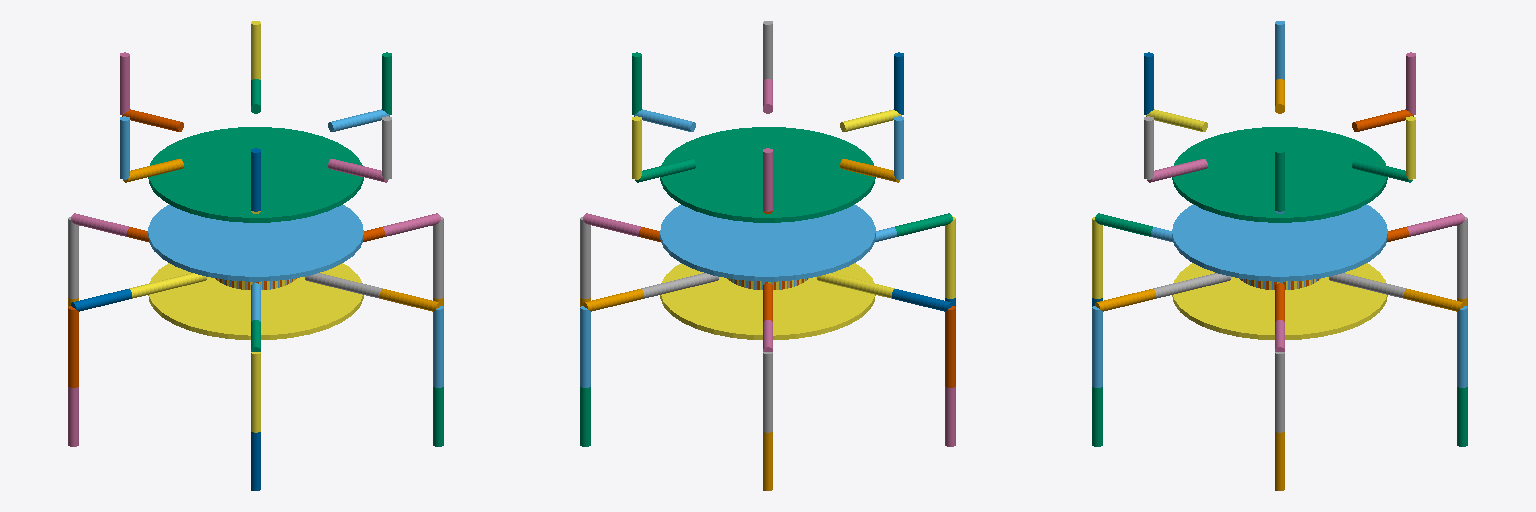
--- Render facts (derived) ---
Views: 3 orthographic renders of the robot side by side, from view 1: azimuth 30°, elevation 25°; view 2: azimuth 150°, elevation 25°; view 3: azimuth 270°, elevation 25°.
Robot: shell_robot — 59 links, 58 joints (37 revolute, 21 fixed); root link map; default pose: every joint at zero.
Visible links, largest first — view 1: upper_chassis, base_link, bottom_chassis, leg_B_3_4, leg_B_5_4, leg_B_2_4, leg_B_6_4, leg_B_4_4, leg_B_3_2, leg_B_5_2, leg_B_3_5, leg_B_5_5 (+15 smaller); view 2: upper_chassis, base_link, bottom_chassis, leg_B_1_4, leg_B_3_4, leg_B_4_4, leg_B_6_4, leg_B_2_4, leg_B_3_2, leg_B_1_2, leg_B_1_5, leg_B_3_5 (+15 smaller); view 3: upper_chassis, base_link, bottom_chassis, leg_B_1_4, leg_B_5_4, leg_B_2_4, leg_B_4_4, leg_B_6_4, leg_B_1_2, leg_B_5_2, leg_B_1_5, leg_B_5_5 (+15 smaller).
Boxes of the visible links, bbox=[...] form: upper_chassis: bbox=[148, 127, 363, 222]; base_link: bbox=[148, 204, 363, 281]; bottom_chassis: bbox=[148, 263, 363, 339]; leg_B_3_4: bbox=[68, 306, 78, 387]; leg_B_5_4: bbox=[433, 306, 443, 387]; leg_B_2_4: bbox=[68, 216, 78, 298]; leg_B_6_4: bbox=[433, 216, 443, 298]; leg_B_4_4: bbox=[251, 352, 260, 432]; leg_B_3_2: bbox=[129, 273, 206, 298]; leg_B_5_2: bbox=[305, 273, 382, 298]; leg_B_3_5: bbox=[68, 387, 78, 446]; leg_B_5_5: bbox=[433, 387, 443, 446]; upper_chassis: bbox=[660, 127, 875, 222]; base_link: bbox=[660, 204, 875, 281]; bottom_chassis: bbox=[660, 263, 875, 339]; leg_B_1_4: bbox=[580, 306, 590, 387]; leg_B_3_4: bbox=[945, 306, 955, 387]; leg_B_4_4: bbox=[945, 216, 955, 298]; leg_B_6_4: bbox=[580, 216, 590, 298]; leg_B_2_4: bbox=[763, 352, 772, 432]; leg_B_3_2: bbox=[817, 273, 894, 298]; leg_B_1_2: bbox=[641, 273, 718, 298]; leg_B_1_5: bbox=[580, 387, 590, 446]; leg_B_3_5: bbox=[945, 387, 955, 446]; upper_chassis: bbox=[1172, 127, 1387, 222]; base_link: bbox=[1172, 204, 1387, 281]; bottom_chassis: bbox=[1172, 263, 1387, 339]; leg_B_1_4: bbox=[1457, 306, 1467, 387]; leg_B_5_4: bbox=[1092, 306, 1102, 387]; leg_B_2_4: bbox=[1457, 216, 1467, 298]; leg_B_4_4: bbox=[1092, 216, 1102, 298]; leg_B_6_4: bbox=[1275, 352, 1284, 432]; leg_B_1_2: bbox=[1329, 273, 1406, 298]; leg_B_5_2: bbox=[1153, 273, 1230, 298]; leg_B_1_5: bbox=[1457, 387, 1467, 446]; leg_B_5_5: bbox=[1092, 387, 1102, 446].
Size in the robot's own frame: 0.4 by 0.3477 by 0.32 metres.
Geometry: primitives only (box / cylinder / sphere), no mesh files.

URDF robot description (shell_robot):
<?xml version="1.0" encoding="utf-8"?>
<!-- =================================================================================== -->
<!-- |    This document was autogenerated by xacro from shell_robot.urdf.xacro         | -->
<!-- |    EDITING THIS FILE BY HAND IS NOT RECOMMENDED                                 | -->
<!-- =================================================================================== -->
<robot name="shell_robot">
  <!-- **************************************************************************************************************************************** -->
  <!-- ******* ADAPTIVE CONSTANTS ******* -->
  <!-- **************************************************************************************************************************************** -->
  <!-- **************************************************************************************************************************************** -->
  <!-- ******* phisics proprieties ******* -->
  <!--inertia-->
  <!-- **************************************************************************************************************************************** -->
  <!-- ******* DH proprieties ******* -->
  <!-- **************************************************************************************************************************************** -->
  <leg prefix="prefix leg_B"/>
  <!-- **************************************************************************************************************************************** -->
  <!-- ******* ADAPTIVE CONSTANTS ******* -->
  <!-- **************************************************************************************************************************************** -->
  <!-- **************************************************************************************************************************************** -->
  <!-- ******* phisics proprieties ******* -->
  <!--inertia-->
  <leg prefix="prefix leg_U"/>
  <!-- **************************************************************************************************************************************** -->
  <!-- ******* ADAPTIVE CONSTANTS ******* -->
  <!-- **************************************************************************************************************************************** -->
  <!-- **************************************************************************************************************************************** -->
  <!-- ******* phisics proprieties ******* -->
  <!--inertia-->
  <!-- **************************************************************************************************************************************** -->
  <!-- ******* BASE LINK AND JOINTS ******* -->
  <!-- **************************************************************************************************************************************** -->
  <!--***fixed joints***-->
  <!--world joint
    <joint name="world_joint" type="fixed">
    <parent link="world"/>
    <child link="base_link"/>
    <origin rpy="0.0 0.0 0.0" xyz="0.0 0.0 0.0"/>
  </joint>  -->
  <!--from map to robot-->
  <joint name="to_robot" type="fixed">
    <parent link="map"/>
    <child link="base_link"/>
    <origin rpy="0 0 0" xyz="0 0 0.14"/>
    <dynamics damping="7.0" friction="1000"/>
  </joint>
  <!--base to bottom joint-->
  <joint name="bottom_joint" type="fixed">
    <parent link="base_link"/>
    <child link="bottom_chassis"/>
    <origin rpy="0 0 0" xyz="0 0 -0.06"/>
    <dynamics damping="7.0" friction="1000"/>
    <!--limit effort="0" velocity="0.0" upper="0.0001" lower ="-0.0001" /-->
  </joint>
  <!--base to upper joint-->
  <joint name="upper_joint" type="fixed">
    <parent link="base_link"/>
    <child link="upper_chassis"/>
    <origin rpy="0 0 0" xyz="0 0 0.06"/>
    <dynamics damping="7.0" friction="1000"/>
    <!--limit effort="0" velocity="0.0" upper="0.0001" lower ="-0.0001" /-->
  </joint>
  <!--MAP LINK-->
  <link name="map">
    <selfCollide>1</selfCollide>
    <surface>
      <contact>
        <poissons_ratio>0.347</poissons_ratio>
        <elastic_modulus>8.8e+09</elastic_modulus>
        <ode>
          <soft_cfm>0.01</soft_cfm>
          <soft_erp>0.3</soft_erp>
          <kp>1000</kp>
          <kp>1000</kp>
          <kd>10</kd>
          <max_vel>10.0</max_vel>
          <min_depth>0.1</min_depth>
        </ode>
      </contact>
    </surface>
  </link>
  <!--BASE LINKS-->
  <link name="base_link">
    <pose>0 0 0 0 0 0</pose>
    <selfCollide>1</selfCollide>
    <inertial>
      <mass value="0.8"/>
      <origin rpy="0 0 0" xyz="0 0 0"/>
      <inertia ixx="0.0200016666667" ixy="0.01" ixz="0.01" iyy="0.0200016666667" iyz="0.01" izz="0.0200016666667"/>
    </inertial>
    <collision name="base_link">
      <geometry>
        <cylinder length="0.005" radius="0.1"/>
      </geometry>
      <surface>
        <contact>
          <poissons_ratio>0.347</poissons_ratio>
          <elastic_modulus>8.8e+09</elastic_modulus>
          <ode>
            <soft_cfm>0.0001</soft_cfm>
            <soft_erp>0.3</soft_erp>
            <kp>1000</kp>
            <kp>1000</kp>
            <kd>10</kd>
            <max_vel>10.0</max_vel>
            <min_depth>0.1</min_depth>
          </ode>
        </contact>
      </surface>
    </collision>
    <visual>
      <origin rpy="0 0 0" xyz="0 0 0"/>
      <geometry>
        <cylinder length="0.005" radius="0.1"/>
      </geometry>
    </visual>
  </link>
  <!--chassis robot upper link-->
  <link name="upper_chassis">
    <pose>0 0 0 0 0 0</pose>
    <selfCollide>1</selfCollide>
    <inertial>
      <mass value="0.8"/>
      <origin rpy="0 0 0" xyz="0 0 0"/>
      <inertia ixx="0.0200016666667" ixy="0.01" ixz="0.01" iyy="0.0200016666667" iyz="0.01" izz="0.0200016666667"/>
    </inertial>
    <collision name="upper_chassis">
      <geometry>
        <cylinder length="0.005" radius="0.1"/>
      </geometry>
      <surface>
        <contact>
          <poissons_ratio>0.347</poissons_ratio>
          <elastic_modulus>8.8e+09</elastic_modulus>
          <ode>
            <soft_cfm>0.001</soft_cfm>
            <soft_erp>0.3</soft_erp>
            <kp>1000</kp>
            <kp>1000</kp>
            <kd>10</kd>
            <max_vel>10.0</max_vel>
            <min_depth>0.1</min_depth>
          </ode>
        </contact>
      </surface>
    </collision>
    <visual>
      <origin rpy="0 0 0" xyz="0 0 0"/>
      <geometry>
        <cylinder length="0.005" radius="0.1"/>
      </geometry>
    </visual>
  </link>
  <!--chassis robot bottom link-->
  <link name="bottom_chassis">
    <pose>0 0 0 0 0 0</pose>
    <selfCollide>1</selfCollide>
    <inertial>
      <mass value="0.8"/>
      <origin rpy="0 0 0" xyz="0 0 0"/>
      <inertia ixx="0.0200016666667" ixy="0.01" ixz="0.01" iyy="0.0200016666667" iyz="0.01" izz="0.0200016666667"/>
    </inertial>
    <collision name="bottom_chassis">
      <geometry>
        <cylinder length="0.005" radius="0.1"/>
      </geometry>
      <surface>
        <contact>
          <poissons_ratio>0.347</poissons_ratio>
          <elastic_modulus>8.8e+09</elastic_modulus>
          <ode>
            <soft_cfm>0.001</soft_cfm>
            <soft_erp>0.3</soft_erp>
            <kp>1000</kp>
            <kp>1000</kp>
            <kd>10</kd>
            <max_vel>10.0</max_vel>
            <min_depth>0.1</min_depth>
          </ode>
        </contact>
      </surface>
    </collision>
    <visual>
      <origin rpy="0 0 0" xyz="0 0 0"/>
      <geometry>
        <cylinder length="0.005" radius="0.1"/>
      </geometry>
    </visual>
  </link>
  <!--mimik base-->
  <joint name="q_c" type="revolute">
    <parent link="base_link"/>
    <child link="support_c"/>
    <origin rpy="0.0 0.0 0.0" xyz="0.0 0.0 0.0"/>
    <limit effort="1.4709975" lower="0" upper="3.14159" velocity="6.178465545"/>
    <dynamics damping="2.0" friction="0.0"/>
    <axis xyz="0 0 1"/>
  </joint>
  <link name="support_c">
    <pose>0 0 0 0 0 0</pose>
    <selfCollide>1</selfCollide>
    <inertial>
      <mass value="0.001"/>
      <origin rpy="0 0 0" xyz="0 0 0"/>
      <inertia ixx="0.001" ixy="0.001" ixz="0.001" iyy="0.001" iyz="0.001" izz="0.001"/>
    </inertial>
    <collision name="support_c">
      <geometry>
        <cylinder length="0.001" radius="0.001"/>
      </geometry>
      <surface>
        <contact>
          <poissons_ratio>0.347</poissons_ratio>
          <elastic_modulus>8.8e+09</elastic_modulus>
          <ode>
            <soft_cfm>0.001</soft_cfm>
            <soft_erp>0.3</soft_erp>
            <kp>1000</kp>
            <kp>1000</kp>
            <kd>10</kd>
            <max_vel>10.0</max_vel>
            <min_depth>0.1</min_depth>
          </ode>
        </contact>
      </surface>
    </collision>
  </link>
  <transmission name="tran_1_q_c">
    <type>transmission_interface/SimpleTransmission</type>
    <joint name="q_c">
      <hardwareInterface>hardware_interface/PositionJointInterface</hardwareInterface>
    </joint>
    <actuator name="motor_q_c">
      <hardwareInterface>hardware_interface/PositionJointInterface</hardwareInterface>
      <mechanicalReduction>1</mechanicalReduction>
    </actuator>
  </transmission>
  <gazebo reference="support_c">
    <selfCollide>1</selfCollide>
    <implicitSpringDamper>True</implicitSpringDamper>
  </gazebo>
  <gazebo reference="bottom_chassis">
    <selfCollide>1</selfCollide>
    <implicitSpringDamper>True</implicitSpringDamper>
  </gazebo>
  <gazebo reference="map">
    <selfCollide>1</selfCollide>
    <implicitSpringDamper>True</implicitSpringDamper>
  </gazebo>
  <gazebo reference="upper_chassis">
    <implicitSpringDamper>True</implicitSpringDamper>
    <selfCollide>1</selfCollide>
    <implicitSpringDamper>True</implicitSpringDamper>
  </gazebo>
  <gazebo reference="base_link">
    <implicitSpringDamper>True</implicitSpringDamper>
    <selfCollide>1</selfCollide>
  </gazebo>
  <!-- **************************************************************************************************************************************** -->
  <!-- ******* ADAPTIVE CONSTANTS ******* -->
  <!-- **************************************************************************************************************************************** -->
  <!-- **************************************************************************************************************************************** -->
  <!-- ******* phisics proprieties ******* -->
  <!--inertia-->
  <!-- **************************************************************************************************************************************** -->
  <!-- ******* KINEMATIC PROPRIETIS (JOINTS) ******* -->
  <!-- **************************************************************************************************************************************** -->
  <!--base to folding fan bottom joint-->
  <joint name="folding_fan_joint_1" type="fixed">
    <parent link="base_link"/>
    <child link="folding_fan_link_1"/>
    <origin rpy="0 0 1.04719" xyz="0 0 -0.03"/>
    <!--limit effort="0" velocity="0.0" upper="0.0001" lower ="-0.0001" /-->
    <dynamics damping="20.0" friction="1000"/>
    <axis xyz="0 0 1"/>
  </joint>
  <!--q_1_1_0 FIXED-->
  <joint name="q_1_1_0_FIXED" type="fixed">
    <parent link="folding_fan_link_1"/>
    <child link="leg_B_1_1"/>
    <origin rpy="0 0 0" xyz="0.055 0 0"/>
    <dynamics damping="20.0" friction="1000"/>
    <!--limit effort="0" velocity="0.0" upper="0.0001" lower ="-0.0001" /-->
    <axis xyz="0 0 1"/>
  </joint>
  <!--q_1_i_1-->
  <joint name="q_1_1_1" type="revolute">
    <parent link="leg_B_1_1"/>
    <child link="leg_B_1_2"/>
    <origin rpy="0 0 0" xyz="0 0 0"/>
    <limit effort="1.4709975" lower="0" upper="3.14159" velocity="6.178465545"/>
    <dynamics damping="7.0" friction="0.1"/>
    <!--mimic joint="q_c" multiplier="1" offset="0" /-->
    <axis xyz="0 0 1"/>
  </joint>
  <!--q_1_i_2-->
  <joint name="q_1_1_2" type="revolute">
    <parent link="leg_B_1_2"/>
    <child link="leg_B_1_3"/>
    <origin rpy="0 0 0" xyz="0.08 0 0"/>
    <limit effort="1.4709975" lower="-1.570795" upper="1.570795" velocity="6.178465545"/>
    <dynamics damping="0.7" friction="1000"/>
    <axis xyz="0 0 1"/>
  </joint>
  <!--q_1_i_3-->
  <joint name="q_1_1_3" type="revolute">
    <parent link="leg_B_1_3"/>
    <child link="leg_B_1_4"/>
    <origin rpy="0 1.570795 0" xyz="0.06 0 0"/>
    <limit effort="1.765197" lower="-1.570795" upper="1.570795" velocity="6.178465545"/>
    <dynamics damping="7.0" friction="0.10"/>
    <axis xyz="0 1 0"/>
  </joint>
  <!--q_1_i_4-->
  <joint name="q_1_1_4" type="revolute">
    <parent link="leg_B_1_4"/>
    <child link="leg_B_1_5"/>
    <origin rpy="-1.570795 0 0" xyz="0.08 0 0"/>
    <limit effort="1.765197" lower="-1.570795" upper="1.570795" velocity="6.178465545"/>
    <dynamics damping="7.0" friction="0.1"/>
    <axis xyz="0 0 1"/>
  </joint>
  <!-- **************************************************************************************************************************************** -->
  <!-- ******* INERTIAL PROPRIETIS (LINKS) ******* -->
  <!-- **************************************************************************************************************************************** -->
  <!--folding fan robot bottom link-->
  <link name="folding_fan_link_1">
    <pose>0 0 0 0 0 0</pose>
    <selfCollide>1</selfCollide>
    <inertial>
      <mass value="0.8"/>
      <origin rpy="0 0 0" xyz="0 0 0"/>
      <inertia ixx="0.000344066666667" ixy="0.01" ixz="0.01" iyy="0.000344066666667" iyz="0.01" izz="0.00802406666667"/>
    </inertial>
    <visual>
      <origin rpy="0 0 0" xyz="0 0 0"/>
      <geometry>
        <cylinder length="0.019" radius="0.04"/>
      </geometry>
    </visual>
  </link>
  <!--folding fan robot bottom link-->
  <link name="leg_B_1_1">
    <pose>0 0 0 0 0 0</pose>
    <selfCollide>1</selfCollide>
    <inertial>
      <mass value="0.8"/>
      <origin rpy="0 0 0" xyz="0 0 0"/>
      <inertia ixx="6.90666666667e-05" ixy="0.01" ixz="0.01" iyy="6.90666666667e-05" iyz="0.01" izz="0.00302406666667"/>
    </inertial>
    <collision name="leg_B_1_1">
      <origin rpy="0 0 0" xyz="0 0 0"/>
      <geometry>
        <cylinder length="0.0038" radius="0.003"/>
      </geometry>
      <surface>
        <contact>
          <poissons_ratio>0.347</poissons_ratio>
          <elastic_modulus>8.8e+09</elastic_modulus>
          <ode>
            <soft_cfm>0.01</soft_cfm>
            <soft_erp>0.3</soft_erp>
            <kp>1000</kp>
            <kd>10</kd>
            <max_vel>100.0</max_vel>
            <min_depth>0.001</min_depth>
          </ode>
        </contact>
      </surface>
    </collision>
  </link>
  <!--leg_B_i_2 link-->
  <link name="leg_B_1_2">
    <pose>0 0 0 0 0 0</pose>
    <selfCollide>1</selfCollide>
    <inertial>
      <mass value="0.06"/>
      <origin rpy="0 1.570795 0" xyz="0.04 0 0"/>
      <inertia ixx="0.0004" ixy="0.01" ixz="0.01" iyy="0.01" iyz="0.01" izz="0.0004"/>
    </inertial>
    <collision name="leg_B_1_2">
      <origin rpy="0 1.570795 0" xyz="0.04 0 0"/>
      <geometry>
        <cylinder length="0.024" radius="0.003"/>
      </geometry>
      <surface>
        <contact>
          <poissons_ratio>0.347</poissons_ratio>
          <elastic_modulus>8.8e+09</elastic_modulus>
          <ode>
            <soft_cfm>0.01</soft_cfm>
            <soft_erp>0.3</soft_erp>
            <kp>1000</kp>
            <kd>10</kd>
            <max_vel>100.0</max_vel>
            <min_depth>0.001</min_depth>
          </ode>
        </contact>
      </surface>
    </collision>
    <visual>
      <origin rpy="0 1.570795 0" xyz="0.04 0 0"/>
      <geometry>
        <cylinder length="0.08" radius="0.005"/>
      </geometry>
    </visual>
  </link>
  <!--leg_B_i_3 link-->
  <link name="leg_B_1_3">
    <pose>0 0 0 0 0 0</pose>
    <selfCollide>1</selfCollide>
    <inertial>
      <mass value="0.06"/>
      <origin rpy="0 1.570795 0" xyz="0.03 0 0"/>
      <inertia ixx="0.0003" ixy="0.01" ixz="0.01" iyy="0.01" iyz="0.01" izz="0.0003"/>
    </inertial>
    <collision name="leg_B_1_3">
      <origin rpy="0 1.570795 0" xyz="0.03 0 0"/>
      <geometry>
        <cylinder length="0.036" radius="0.003"/>
      </geometry>
      <surface>
        <contact>
          <poissons_ratio>0.347</poissons_ratio>
          <elastic_modulus>8.8e+09</elastic_modulus>
          <ode>
            <soft_cfm>0.01</soft_cfm>
            <soft_erp>0.3</soft_erp>
            <kp>1000</kp>
            <kd>10</kd>
            <max_vel>100.0</max_vel>
            <min_depth>0.001</min_depth>
          </ode>
        </contact>
      </surface>
    </collision>
    <visual>
      <origin rpy="0 1.570795 0" xyz="0.03 0 0"/>
      <geometry>
        <cylinder length="0.06" radius="0.005"/>
      </geometry>
    </visual>
  </link>
  <!--leg_B_i_4 link-->
  <link name="leg_B_1_4">
    <pose>0 0 0 0 0 0</pose>
    <selfCollide>1</selfCollide>
    <inertial>
      <mass value="0.06"/>
      <origin rpy="0 -1.570795 0" xyz="0.04 0 0"/>
      <inertia ixx="0.0004" ixy="0.01" ixz="0.01" iyy="0.01" iyz="0.01" izz="0.0004"/>
    </inertial>
    <collision name="leg_B_1_4">
      <origin rpy="0 -1.570795 0" xyz="0.04 0 0"/>
      <geometry>
        <cylinder length="0.048" radius="0.003"/>
      </geometry>
    </collision>
    <surface>
      <contact>
        <poissons_ratio>0.347</poissons_ratio>
        <elastic_modulus>8.8e+09</elastic_modulus>
        <ode>
          <soft_cfm>0.01</soft_cfm>
          <soft_erp>0.3</soft_erp>
          <kp>1000</kp>
          <kd>10</kd>
          <max_vel>100.0</max_vel>
          <min_depth>0.001</min_depth>
        </ode>
      </contact>
    </surface>
    <visual>
      <origin rpy="0.0 -1.570795 0" xyz="0.04 0 0"/>
      <geometry>
        <cylinder length="0.08" radius="0.005"/>
      </geometry>
    </visual>
  </link>
  <!--leg_B_i_5 link-->
  <link name="leg_B_1_5">
    <pose>0 0 0 0 0 0</pose>
    <selfCollide>1</selfCollide>
    <inertial>
      <mass value="0.06"/>
      <origin rpy="0 1.570795 0" xyz="0.03 0 0"/>
      <inertia ixx="0.0003" ixy="0.01" ixz="0.01" iyy="0.01" iyz="0.01" izz="0.0003"/>
    </inertial>
    <collision name="leg_B_1_5">
      <origin rpy="0 1.570795 0" xyz="0.03 0 0"/>
      <geometry>
        <cylinder length="0.036" radius="0.003"/>
      </geometry>
      <surface>
        <contact>
          <poissons_ratio>0.347</poissons_ratio>
          <elastic_modulus>8.8e+09</elastic_modulus>
          <ode>
            <soft_cfm>0.01</soft_cfm>
            <soft_erp>0.3</soft_erp>
            <kp>1000</kp>
            <kd>10</kd>
            <max_vel>100.0</max_vel>
            <min_depth>0.001</min_depth>
          </ode>
        </contact>
      </surface>
    </collision>
    <visual>
      <origin rpy="0 1.570795 0" xyz="0.03 0 0"/>
      <geometry>
        <cylinder length="0.06" radius="0.005"/>
      </geometry>
    </visual>
  </link>
  <gazebo reference="folding_fan_link_1">
    <implicitSpringDamper>True</implicitSpringDamper>
    <selfCollide>1</selfCollide>
  </gazebo>
  <gazebo reference="folding_fan_link_1">
    <implicitSpringDamper>True</implicitSpringDamper>
    <selfCollide>1</selfCollide>
  </gazebo>
  <gazebo reference="leg_B_1_0">
    <implicitSpringDamper>True</implicitSpringDamper>
    <selfCollide>1</selfCollide>
  </gazebo>
  <gazebo reference="leg_B_1_1">
    <implicitSpringDamper>True</implicitSpringDamper>
    <selfCollide>1</selfCollide>
  </gazebo>
  <gazebo reference="leg_B_1_2">
    <implicitSpringDamper>True</implicitSpringDamper>
    <selfCollide>1</selfCollide>
  </gazebo>
  <gazebo reference="leg_B_1_3">
    <implicitSpringDamper>True</implicitSpringDamper>
    <selfCollide>1</selfCollide>
  </gazebo>
  <gazebo reference="leg_B_1_4">
    <implicitSpringDamper>True</implicitSpringDamper>
    <selfCollide>1</selfCollide>
  </gazebo>
  <gazebo reference="leg_B_1_5">
    <implicitSpringDamper>True</implicitSpringDamper>
    <selfCollide>1</selfCollide>
  </gazebo>
  <transmission name="tran_1_1_1">
    <type>transmission_interface/SimpleTransmission</type>
    <joint name="q_1_1_1">
      <hardwareInterface>hardware_interface/PositionJointInterface</hardwareInterface>
    </joint>
    <actuator name="motor_1_1_1">
      <hardwareInterface>hardware_interface/PositionJointInterface</hardwareInterface>
      <mechanicalReduction>1</mechanicalReduction>
    </actuator>
  </transmission>
  <transmission name="tran_1_1_2">
    <type>transmission_interface/SimpleTransmission</type>
    <joint name="q_1_1_2">
      <hardwareInterface>hardware_interface/PositionJointInterface</hardwareInterface>
    </joint>
    <actuator name="motor_1_1_2">
      <hardwareInterface>hardware_interface/PositionJointInterface</hardwareInterface>
      <mechanicalReduction>1</mechanicalReduction>
    </actuator>
  </transmission>
  <transmission name="tran_1_1_3">
    <type>transmission_interface/SimpleTransmission</type>
    <joint name="q_1_1_3">
      <hardwareInterface>hardware_interface/PositionJointInterface</hardwareInterface>
    </joint>
    <actuator name="motor_1_1_3">
      <hardwareInterface>hardware_interface/PositionJointInterface</hardwareInterface>
      <mechanicalReduction>1</mechanicalReduction>
    </actuator>
  </transmission>
  <transmission name="tran_1_1_4">
    <type>transmission_interface/SimpleTransmission</type>
    <joint name="q_1_1_4">
      <hardwareInterface>hardware_interface/PositionJointInterface</hardwareInterface>
    </joint>
    <actuator name="motor_1_1_4_">
      <hardwareInterface>hardware_interface/PositionJointInterface</hardwareInterface>
      <mechanicalReduction>1</mechanicalReduction>
    </actuator>
  </transmission>
  <!-- **************************************************************************************************************************************** -->
  <!-- ******* KINEMATIC PROPRIETIS (JOINTS) ******* -->
  <!-- **************************************************************************************************************************************** -->
  <!--base to folding fan bottom joint-->
  <joint name="folding_fan_joint_2" type="fixed">
    <parent link="base_link"/>
    <child link="folding_fan_link_2"/>
    <origin rpy="0 0 2.09438" xyz="0 0 -0.03"/>
    <!--limit effort="0" velocity="0.0" upper="0.0001" lower ="-0.0001" /-->
    <dynamics damping="20.0" friction="1000"/>
    <axis xyz="0 0 1"/>
  </joint>
  <!--q_1_1_0 FIXED-->
  <joint name="q_1_2_0_FIXED" type="fixed">
    <parent link="folding_fan_link_2"/>
    <child link="leg_B_2_1"/>
    <origin rpy="0 0 0" xyz="0.055 0 0"/>
    <dynamics damping="20.0" friction="1000"/>
    <!--limit effort="0" velocity="0.0" upper="0.0001" lower ="-0.0001" /-->
    <axis xyz="0 0 1"/>
  </joint>
  <!--q_1_i_1-->
  <joint name="q_1_2_1" type="revolute">
    <parent link="leg_B_2_1"/>
    <child link="leg_B_2_2"/>
    <origin rpy="0 0 0" xyz="0 0 0"/>
    <limit effort="1.4709975" lower="0" upper="3.14159" velocity="6.178465545"/>
    <dynamics damping="7.0" friction="0.1"/>
    <!--mimic joint="q_c" multiplier="1" offset="0" /-->
    <axis xyz="0 0 1"/>
  </joint>
  <!--q_1_i_2-->
  <joint name="q_1_2_2" type="revolute">
    <parent link="leg_B_2_2"/>
    <child link="leg_B_2_3"/>
    <origin rpy="0 0 0" xyz="0.08 0 0"/>
    <limit effort="1.4709975" lower="-1.570795" upper="1.570795" velocity="6.178465545"/>
    <dynamics damping="0.7" friction="1000"/>
    <axis xyz="0 0 1"/>
  </joint>
  <!--q_1_i_3-->
  <joint name="q_1_2_3" type="revolute">
    <parent link="leg_B_2_3"/>
    <child link="leg_B_2_4"/>
    <origin rpy="0 1.570795 0" xyz="0.06 0 0"/>
    <limit effort="1.765197" lower="-1.570795" upper="1.570795" velocity="6.178465545"/>
    <dynamics damping="7.0" friction="0.10"/>
    <axis xyz="0 1 0"/>
  </joint>
  <!--q_1_i_4-->
  <joint name="q_1_2_4" type="revolute">
    <parent link="leg_B_2_4"/>
    <child link="leg_B_2_5"/>
    <origin rpy="-1.570795 0 0" xyz="0.08 0 0"/>
    <limit effort="1.765197" lower="-1.570795" upper="1.570795" velocity="6.178465545"/>
    <dynamics damping="7.0" friction="0.1"/>
    <axis xyz="0 0 1"/>
  </joint>
  <!-- **************************************************************************************************************************************** -->
  <!-- ******* INERTIAL PROPRIETIS (LINKS) ******* -->
  <!-- **************************************************************************************************************************************** -->
  <!--folding fan robot bottom link-->
  <link name="folding_fan_link_2">
    <pose>0 0 0 0 0 0</pose>
    <selfCollide>1</selfCollide>
    <inertial>
      <mass value="0.8"/>
      <origin rpy="0 0 0" xyz="0 0 0"/>
      <inertia ixx="0.000344066666667" ixy="0.01" ixz="0.01" iyy="0.000344066666667" iyz="0.01" izz="0.00802406666667"/>
    </inertial>
    <visual>
      <origin rpy="0 0 0" xyz="0 0 0"/>
      <geometry>
        <cylinder length="0.019" radius="0.04"/>
      </geometry>
    </visual>
  </link>
  <!--folding fan robot bottom link-->
  <link name="leg_B_2_1">
    <pose>0 0 0 0 0 0</pose>
    <selfCollide>1</selfCollide>
    <inertial>
      <mass value="0.8"/>
      <origin rpy="0 0 0" xyz="0 0 0"/>
      <inertia ixx="6.90666666667e-05" ixy="0.01" ixz="0.01" iyy="6.90666666667e-05" iyz="0.01" izz="0.00302406666667"/>
    </inertial>
    <collision name="leg_B_2_1">
      <origin rpy="0 0 0" xyz="0 0 0"/>
      <geometry>
        <cylinder length="0.0038" radius="0.003"/>
      </geometry>
      <surface>
        <contact>
          <poissons_ratio>0.347</poissons_ratio>
          <elastic_modulus>8.8e+09</elastic_modulus>
          <ode>
            <soft_cfm>0.01</soft_cfm>
            <soft_erp>0.3</soft_erp>
            <kp>1000</kp>
            <kd>10</kd>
            <max_vel>100.0</max_vel>
            <min_depth>0.001</min_depth>
          </ode>
        </contact>
      </surface>
    </collision>
  </link>
  <!--leg_B_i_2 link-->
  <link name="leg_B_2_2">
    <pose>0 0 0 0 0 0</pose>
    <selfCollide>1</selfCollide>
    <inertial>
      <mass value="0.06"/>
      <origin rpy="0 1.570795 0" xyz="0.04 0 0"/>
      <inertia ixx="0.0004" ixy="0.01" ixz="0.01" iyy="0.01" iyz="0.01" izz="0.0004"/>
    </inertial>
    <collision name="leg_B_2_2">
      <origin rpy="0 1.570795 0" xyz="0.04 0 0"/>
      <geometry>
        <cylinder length="0.024" radius="0.003"/>
      </geometry>
      <surface>
        <contact>
          <poissons_ratio>0.347</poissons_ratio>
          <elastic_modulus>8.8e+09</elastic_modulus>
          <ode>
            <soft_cfm>0.01</soft_cfm>
            <soft_erp>0.3</soft_erp>
            <kp>1000</kp>
            <kd>10</kd>
            <max_vel>100.0</max_vel>
            <min_depth>0.001</min_depth>
          </ode>
        </contact>
      </surface>
    </collision>
    <visual>
      <origin rpy="0 1.570795 0" xyz="0.04 0 0"/>
      <geometry>
        <cylinder length="0.08" radius="0.005"/>
      </geometry>
    </visual>
  </link>
  <!--leg_B_i_3 link-->
  <link name="leg_B_2_3">
    <pose>0 0 0 0 0 0</pose>
    <selfCollide>1</selfCollide>
    <inertial>
      <mass value="0.06"/>
      <origin rpy="0 1.570795 0" xyz="0.03 0 0"/>
      <inertia ixx="0.0003" ixy="0.01" ixz="0.01" iyy="0.01" iyz="0.01" izz="0.0003"/>
    </inertial>
    <collision name="leg_B_2_3">
      <origin rpy="0 1.570795 0" xyz="0.03 0 0"/>
      <geometry>
        <cylinder length="0.036" radius="0.003"/>
      </geometry>
      <surface>
        <contact>
          <poissons_ratio>0.347</poissons_ratio>
          <elastic_modulus>8.8e+09</elastic_modulus>
          <ode>
            <soft_cfm>0.01</soft_cfm>
            <soft_erp>0.3</soft_erp>
            <kp>1000</kp>
            <kd>10</kd>
            <max_vel>100.0</max_vel>
            <min_depth>0.001</min_depth>
          </ode>
        </contact>
      </surface>
    </collision>
    <visual>
      <origin rpy="0 1.570795 0" xyz="0.03 0 0"/>
      <geometry>
        <cylinder length="0.06" radius="0.005"/>
      </geometry>
    </visual>
  </link>
  <!--leg_B_i_4 link-->
  <link name="leg_B_2_4">
    <pose>0 0 0 0 0 0</pose>
    <selfCollide>1</selfCollide>
    <inertial>
      <mass value="0.06"/>
      <origin rpy="0 -1.570795 0" xyz="0.04 0 0"/>
      <inertia ixx="0.0004" ixy="0.01" ixz="0.01" iyy="0.01" iyz="0.01" izz="0.0004"/>
    </inertial>
    <collision name="leg_B_2_4">
      <origin rpy="0 -1.570795 0" xyz="0.04 0 0"/>
      <geometry>
        <cylinder length="0.048" radius="0.003"/>
      </geometry>
    </collision>
    <surface>
      <contact>
        <poissons_ratio>0.347</poissons_ratio>
        <elastic_modulus>8.8e+09</elastic_modulus>
        <ode>
          <soft_cfm>0.01</soft_cfm>
          <soft_erp>0.3</soft_erp>
          <kp>1000</kp>
          <kd>10</kd>
          <max_vel>100.0</max_vel>
          <min_depth>0.001</min_depth>
        </ode>
      </contact>
    </surface>
    <visual>
      <origin rpy="0.0 -1.570795 0" xyz="0.04 0 0"/>
      <geometry>
        <cylinder length="0.08" radius="0.005"/>
      </geometry>
    </visual>
  </link>
  <!--leg_B_i_5 link-->
  <link name="leg_B_2_5">
    <pose>0 0 0 0 0 0</pose>
    <selfCollide>1</selfCollide>
    <inertial>
      <mass value="0.06"/>
      <origin rpy="0 1.570795 0" xyz="0.03 0 0"/>
      <inertia ixx="0.0003" ixy="0.01" ixz="0.01" iyy="0.01" iyz="0.01" izz="0.0003"/>
    </inertial>
    <collision name="leg_B_2_5">
      <origin rpy="0 1.570795 0" xyz="0.03 0 0"/>
      <geometry>
        <cylinder length="0.036" radius="0.003"/>
      </geometry>
      <surface>
        <contact>
          <poissons_ratio>0.347</poissons_ratio>
          <elastic_modulus>8.8e+09</elastic_modulus>
          <ode>
            <soft_cfm>0.01</soft_cfm>
            <soft_erp>0.3</soft_erp>
            <kp>1000</kp>
            <kd>10</kd>
            <max_vel>100.0</max_vel>
            <min_depth>0.001</min_depth>
          </ode>
        </contact>
      </surface>
    </collision>
    <visual>
      <origin rpy="0 1.570795 0" xyz="0.03 0 0"/>
      <geometry>
        <cylinder length="0.06" radius="0.005"/>
      </geometry>
    </visual>
  </link>
  <gazebo reference="folding_fan_link_2">
    <implicitSpringDamper>True</implicitSpringDamper>
    <selfCollide>1</selfCollide>
  </gazebo>
  <gazebo reference="folding_fan_link_2">
    <implicitSpringDamper>True</implicitSpringDamper>
    <selfCollide>1</selfCollide>
  </gazebo>
  <gazebo reference="leg_B_2_0">
    <implicitSpringDamper>True</implicitSpringDamper>
    <selfCollide>1</selfCollide>
  </gazebo>
  <gazebo reference="leg_B_2_1">
    <implicitSpringDamper>True</implicitSpringDamper>
    <selfCollide>1</selfCollide>
  </gazebo>
  <gazebo reference="leg_B_2_2">
    <implicitSpringDamper>True</implicitSpringDamper>
    <selfCollide>1</selfCollide>
  </gazebo>
  <gazebo reference="leg_B_2_3">
    <implicitSpringDamper>True</implicitSpringDamper>
    <selfCollide>1</selfCollide>
  </gazebo>
  <gazebo reference="leg_B_2_4">
    <implicitSpringDamper>True</implicitSpringDamper>
    <selfCollide>1</selfCollide>
  </gazebo>
  <gazebo reference="leg_B_2_5">
    <implicitSpringDamper>True</implicitSpringDamper>
    <selfCollide>1</selfCollide>
  </gazebo>
  <transmission name="tran_1_2_1">
    <type>transmission_interface/SimpleTransmission</type>
    <joint name="q_1_2_1">
      <hardwareInterface>hardware_interface/PositionJointInterface</hardwareInterface>
    </joint>
    <actuator name="motor_1_2_1">
      <hardwareInterface>hardware_interface/PositionJointInterface</hardwareInterface>
      <mechanicalReduction>1</mechanicalReduction>
    </actuator>
  </transmission>
  <transmission name="tran_1_2_2">
    <type>transmission_interface/SimpleTransmission</type>
    <joint name="q_1_2_2">
      <hardwareInterface>hardware_interface/PositionJointInterface</hardwareInterface>
    </joint>
    <actuator name="motor_1_2_2">
      <hardwareInterface>hardware_interface/PositionJointInterface</hardwareInterface>
      <mechanicalReduction>1</mechanicalReduction>
    </actuator>
  </transmission>
  <transmission name="tran_1_2_3">
    <type>transmission_interface/SimpleTransmission</type>
    <joint name="q_1_2_3">
      <hardwareInterface>hardware_interface/PositionJointInterface</hardwareInterface>
    </joint>
    <actuator name="motor_1_2_3">
      <hardwareInterface>hardware_interface/PositionJointInterface</hardwareInterface>
      <mechanicalReduction>1</mechanicalReduction>
    </actuator>
  </transmission>
  <transmission name="tran_1_2_4">
    <type>transmission_interface/SimpleTransmission</type>
    <joint name="q_1_2_4">
      <hardwareInterface>hardware_interface/PositionJointInterface</hardwareInterface>
    </joint>
    <actuator name="motor_1_2_4_">
      <hardwareInterface>hardware_interface/PositionJointInterface</hardwareInterface>
      <mechanicalReduction>1</mechanicalReduction>
    </actuator>
  </transmission>
  <!-- **************************************************************************************************************************************** -->
  <!-- ******* KINEMATIC PROPRIETIS (JOINTS) ******* -->
  <!-- **************************************************************************************************************************************** -->
  <!--base to folding fan bottom joint-->
  <joint name="folding_fan_joint_3" type="fixed">
    <parent link="base_link"/>
    <child link="folding_fan_link_3"/>
    <origin rpy="0 0 3.14157" xyz="0 0 -0.03"/>
    <!--limit effort="0" velocity="0.0" upper="0.0001" lower ="-0.0001" /-->
    <dynamics damping="20.0" friction="1000"/>
    <axis xyz="0 0 1"/>
  </joint>
  <!--q_1_1_0 FIXED-->
  <joint name="q_1_3_0_FIXED" type="fixed">
    <parent link="folding_fan_link_3"/>
    <child link="leg_B_3_1"/>
    <origin rpy="0 0 0" xyz="0.055 0 0"/>
    <dynamics damping="20.0" friction="1000"/>
    <!--limit effort="0" velocity="0.0" upper="0.0001" lower ="-0.0001" /-->
    <axis xyz="0 0 1"/>
  </joint>
  <!--q_1_i_1-->
  <joint name="q_1_3_1" type="revolute">
    <parent link="leg_B_3_1"/>
    <child link="leg_B_3_2"/>
    <origin rpy="0 0 0" xyz="0 0 0"/>
    <limit effort="1.4709975" lower="0" upper="3.14159" velocity="6.178465545"/>
    <dynamics damping="7.0" friction="0.1"/>
    <!--mimic joint="q_c" multiplier="1" offset="0" /-->
    <axis xyz="0 0 1"/>
  </joint>
  <!--q_1_i_2-->
  <joint name="q_1_3_2" type="revolute">
    <parent link="leg_B_3_2"/>
    <child link="leg_B_3_3"/>
    <origin rpy="0 0 0" xyz="0.08 0 0"/>
    <limit effort="1.4709975" lower="-1.570795" upper="1.570795" velocity="6.178465545"/>
    <dynamics damping="0.7" friction="1000"/>
    <axis xyz="0 0 1"/>
  </joint>
  <!--q_1_i_3-->
  <joint name="q_1_3_3" type="revolute">
    <parent link="leg_B_3_3"/>
    <child link="leg_B_3_4"/>
    <origin rpy="0 1.570795 0" xyz="0.06 0 0"/>
    <limit effort="1.765197" lower="-1.570795" upper="1.570795" velocity="6.178465545"/>
    <dynamics damping="7.0" friction="0.10"/>
    <axis xyz="0 1 0"/>
  </joint>
  <!--q_1_i_4-->
  <joint name="q_1_3_4" type="revolute">
    <parent link="leg_B_3_4"/>
    <child link="leg_B_3_5"/>
    <origin rpy="-1.570795 0 0" xyz="0.08 0 0"/>
    <limit effort="1.765197" lower="-1.570795" upper="1.570795" velocity="6.178465545"/>
    <dynamics damping="7.0" friction="0.1"/>
    <axis xyz="0 0 1"/>
  </joint>
  <!-- **************************************************************************************************************************************** -->
  <!-- ******* INERTIAL PROPRIETIS (LINKS) ******* -->
  <!-- **************************************************************************************************************************************** -->
  <!--folding fan robot bottom link-->
  <link name="folding_fan_link_3">
    <pose>0 0 0 0 0 0</pose>
    <selfCollide>1</selfCollide>
    <inertial>
      <mass value="0.8"/>
      <origin rpy="0 0 0" xyz="0 0 0"/>
      <inertia ixx="0.000344066666667" ixy="0.01" ixz="0.01" iyy="0.000344066666667" iyz="0.01" izz="0.00802406666667"/>
    </inertial>
    <visual>
      <origin rpy="0 0 0" xyz="0 0 0"/>
      <geometry>
        <cylinder length="0.019" radius="0.04"/>
      </geometry>
    </visual>
  </link>
  <!--folding fan robot bottom link-->
  <link name="leg_B_3_1">
    <pose>0 0 0 0 0 0</pose>
    <selfCollide>1</selfCollide>
    <inertial>
      <mass value="0.8"/>
      <origin rpy="0 0 0" xyz="0 0 0"/>
      <inertia ixx="6.90666666667e-05" ixy="0.01" ixz="0.01" iyy="6.90666666667e-05" iyz="0.01" izz="0.00302406666667"/>
    </inertial>
    <collision name="leg_B_3_1">
      <origin rpy="0 0 0" xyz="0 0 0"/>
      <geometry>
        <cylinder length="0.0038" radius="0.003"/>
      </geometry>
      <surface>
        <contact>
          <poissons_ratio>0.347</poissons_ratio>
          <elastic_modulus>8.8e+09</elastic_modulus>
          <ode>
            <soft_cfm>0.01</soft_cfm>
            <soft_erp>0.3</soft_erp>
            <kp>1000</kp>
            <kd>10</kd>
            <max_vel>100.0</max_vel>
            <min_depth>0.001</min_depth>
          </ode>
        </contact>
      </surface>
    </collision>
  </link>
  <!--leg_B_i_2 link-->
  <link name="leg_B_3_2">
    <pose>0 0 0 0 0 0</pose>
    <selfCollide>1</selfCollide>
    <inertial>
      <mass value="0.06"/>
      <origin rpy="0 1.570795 0" xyz="0.04 0 0"/>
      <inertia ixx="0.0004" ixy="0.01" ixz="0.01" iyy="0.01" iyz="0.01" izz="0.0004"/>
    </inertial>
    <collision name="leg_B_3_2">
      <origin rpy="0 1.570795 0" xyz="0.04 0 0"/>
      <geometry>
        <cylinder length="0.024" radius="0.003"/>
      </geometry>
      <surface>
        <contact>
          <poissons_ratio>0.347</poissons_ratio>
          <elastic_modulus>8.8e+09</elastic_modulus>
          <ode>
            <soft_cfm>0.01</soft_cfm>
            <soft_erp>0.3</soft_erp>
            <kp>1000</kp>
            <kd>10</kd>
            <max_vel>100.0</max_vel>
            <min_depth>0.001</min_depth>
          </ode>
        </contact>
      </surface>
    </collision>
    <visual>
      <origin rpy="0 1.570795 0" xyz="0.04 0 0"/>
      <geometry>
        <cylinder length="0.08" radius="0.005"/>
      </geometry>
    </visual>
  </link>
  <!--leg_B_i_3 link-->
  <link name="leg_B_3_3">
    <pose>0 0 0 0 0 0</pose>
    <selfCollide>1</selfCollide>
    <inertial>
      <mass value="0.06"/>
      <origin rpy="0 1.570795 0" xyz="0.03 0 0"/>
      <inertia ixx="0.0003" ixy="0.01" ixz="0.01" iyy="0.01" iyz="0.01" izz="0.0003"/>
    </inertial>
    <collision name="leg_B_3_3">
      <origin rpy="0 1.570795 0" xyz="0.03 0 0"/>
      <geometry>
        <cylinder length="0.036" radius="0.003"/>
      </geometry>
      <surface>
        <contact>
          <poissons_ratio>0.347</poissons_ratio>
          <elastic_modulus>8.8e+09</elastic_modulus>
          <ode>
            <soft_cfm>0.01</soft_cfm>
            <soft_erp>0.3</soft_erp>
            <kp>1000</kp>
            <kd>10</kd>
            <max_vel>100.0</max_vel>
            <min_depth>0.001</min_depth>
          </ode>
        </contact>
      </surface>
    </collision>
    <visual>
      <origin rpy="0 1.570795 0" xyz="0.03 0 0"/>
      <geometry>
        <cylinder length="0.06" radius="0.005"/>
      </geometry>
    </visual>
  </link>
  <!--leg_B_i_4 link-->
  <link name="leg_B_3_4">
    <pose>0 0 0 0 0 0</pose>
    <selfCollide>1</selfCollide>
    <inertial>
      <mass value="0.06"/>
      <origin rpy="0 -1.570795 0" xyz="0.04 0 0"/>
      <inertia ixx="0.0004" ixy="0.01" ixz="0.01" iyy="0.01" iyz="0.01" izz="0.0004"/>
    </inertial>
    <collision name="leg_B_3_4">
      <origin rpy="0 -1.570795 0" xyz="0.04 0 0"/>
      <geometry>
        <cylinder length="0.048" radius="0.003"/>
      </geometry>
    </collision>
    <surface>
      <contact>
        <poissons_ratio>0.347</poissons_ratio>
        <elastic_modulus>8.8e+09</elastic_modulus>
        <ode>
          <soft_cfm>0.01</soft_cfm>
          <soft_erp>0.3</soft_erp>
          <kp>1000</kp>
          <kd>10</kd>
          <max_vel>100.0</max_vel>
          <min_depth>0.001</min_depth>
        </ode>
      </contact>
    </surface>
    <visual>
      <origin rpy="0.0 -1.570795 0" xyz="0.04 0 0"/>
      <geometry>
        <cylinder length="0.08" radius="0.005"/>
      </geometry>
    </visual>
  </link>
  <!--leg_B_i_5 link-->
  <link name="leg_B_3_5">
    <pose>0 0 0 0 0 0</pose>
    <selfCollide>1</selfCollide>
    <inertial>
      <mass value="0.06"/>
      <origin rpy="0 1.570795 0" xyz="0.03 0 0"/>
      <inertia ixx="0.0003" ixy="0.01" ixz="0.01" iyy="0.01" iyz="0.01" izz="0.0003"/>
    </inertial>
    <collision name="leg_B_3_5">
      <origin rpy="0 1.570795 0" xyz="0.03 0 0"/>
      <geometry>
        <cylinder length="0.036" radius="0.003"/>
      </geometry>
      <surface>
        <contact>
          <poissons_ratio>0.347</poissons_ratio>
          <elastic_modulus>8.8e+09</elastic_modulus>
          <ode>
            <soft_cfm>0.01</soft_cfm>
            <soft_erp>0.3</soft_erp>
            <kp>1000</kp>
            <kd>10</kd>
            <max_vel>100.0</max_vel>
            <min_depth>0.001</min_depth>
          </ode>
        </contact>
      </surface>
    </collision>
    <visual>
      <origin rpy="0 1.570795 0" xyz="0.03 0 0"/>
      <geometry>
        <cylinder length="0.06" radius="0.005"/>
      </geometry>
    </visual>
  </link>
  <gazebo reference="folding_fan_link_3">
    <implicitSpringDamper>True</implicitSpringDamper>
    <selfCollide>1</selfCollide>
  </gazebo>
  <gazebo reference="folding_fan_link_3">
    <implicitSpringDamper>True</implicitSpringDamper>
    <selfCollide>1</selfCollide>
  </gazebo>
  <gazebo reference="leg_B_3_0">
    <implicitSpringDamper>True</implicitSpringDamper>
    <selfCollide>1</selfCollide>
  </gazebo>
  <gazebo reference="leg_B_3_1">
    <implicitSpringDamper>True</implicitSpringDamper>
    <selfCollide>1</selfCollide>
  </gazebo>
  <gazebo reference="leg_B_3_2">
    <implicitSpringDamper>True</implicitSpringDamper>
    <selfCollide>1</selfCollide>
  </gazebo>
  <gazebo reference="leg_B_3_3">
    <implicitSpringDamper>True</implicitSpringDamper>
    <selfCollide>1</selfCollide>
  </gazebo>
  <gazebo reference="leg_B_3_4">
    <implicitSpringDamper>True</implicitSpringDamper>
    <selfCollide>1</selfCollide>
  </gazebo>
  <gazebo reference="leg_B_3_5">
    <implicitSpringDamper>True</implicitSpringDamper>
    <selfCollide>1</selfCollide>
  </gazebo>
  <transmission name="tran_1_3_1">
    <type>transmission_interface/SimpleTransmission</type>
    <joint name="q_1_3_1">
      <hardwareInterface>hardware_interface/PositionJointInterface</hardwareInterface>
    </joint>
    <actuator name="motor_1_3_1">
      <hardwareInterface>hardware_interface/PositionJointInterface</hardwareInterface>
      <mechanicalReduction>1</mechanicalReduction>
    </actuator>
  </transmission>
  <transmission name="tran_1_3_2">
    <type>transmission_interface/SimpleTransmission</type>
    <joint name="q_1_3_2">
      <hardwareInterface>hardware_interface/PositionJointInterface</hardwareInterface>
    </joint>
    <actuator name="motor_1_3_2">
      <hardwareInterface>hardware_interface/PositionJointInterface</hardwareInterface>
      <mechanicalReduction>1</mechanicalReduction>
    </actuator>
  </transmission>
  <transmission name="tran_1_3_3">
    <type>transmission_interface/SimpleTransmission</type>
    <joint name="q_1_3_3">
      <hardwareInterface>hardware_interface/PositionJointInterface</hardwareInterface>
    </joint>
    <actuator name="motor_1_3_3">
      <hardwareInterface>hardware_interface/PositionJointInterface</hardwareInterface>
      <mechanicalReduction>1</mechanicalReduction>
    </actuator>
  </transmission>
  <transmission name="tran_1_3_4">
    <type>transmission_interface/SimpleTransmission</type>
    <joint name="q_1_3_4">
      <hardwareInterface>hardware_interface/PositionJointInterface</hardwareInterface>
    </joint>
    <actuator name="motor_1_3_4_">
      <hardwareInterface>hardware_interface/PositionJointInterface</hardwareInterface>
      <mechanicalReduction>1</mechanicalReduction>
    </actuator>
  </transmission>
  <!-- **************************************************************************************************************************************** -->
  <!-- ******* KINEMATIC PROPRIETIS (JOINTS) ******* -->
  <!-- **************************************************************************************************************************************** -->
  <!--base to folding fan bottom joint-->
  <joint name="folding_fan_joint_4" type="fixed">
    <parent link="base_link"/>
    <child link="folding_fan_link_4"/>
    <origin rpy="0 0 4.18876" xyz="0 0 -0.03"/>
    <!--limit effort="0" velocity="0.0" upper="0.0001" lower ="-0.0001" /-->
    <dynamics damping="20.0" friction="1000"/>
    <axis xyz="0 0 1"/>
  </joint>
  <!--q_1_1_0 FIXED-->
  <joint name="q_1_4_0_FIXED" type="fixed">
    <parent link="folding_fan_link_4"/>
    <child link="leg_B_4_1"/>
    <origin rpy="0 0 0" xyz="0.055 0 0"/>
    <dynamics damping="20.0" friction="1000"/>
    <!--limit effort="0" velocity="0.0" upper="0.0001" lower ="-0.0001" /-->
    <axis xyz="0 0 1"/>
  </joint>
  <!--q_1_i_1-->
  <joint name="q_1_4_1" type="revolute">
    <parent link="leg_B_4_1"/>
    <child link="leg_B_4_2"/>
    <origin rpy="0 0 0" xyz="0 0 0"/>
    <limit effort="1.4709975" lower="0" upper="3.14159" velocity="6.178465545"/>
    <dynamics damping="7.0" friction="0.1"/>
    <!--mimic joint="q_c" multiplier="1" offset="0" /-->
    <axis xyz="0 0 1"/>
  </joint>
  <!--q_1_i_2-->
  <joint name="q_1_4_2" type="revolute">
    <parent link="leg_B_4_2"/>
    <child link="leg_B_4_3"/>
    <origin rpy="0 0 0" xyz="0.08 0 0"/>
    <limit effort="1.4709975" lower="-1.570795" upper="1.570795" velocity="6.178465545"/>
    <dynamics damping="0.7" friction="1000"/>
    <axis xyz="0 0 1"/>
  </joint>
  <!--q_1_i_3-->
  <joint name="q_1_4_3" type="revolute">
    <parent link="leg_B_4_3"/>
    <child link="leg_B_4_4"/>
    <origin rpy="0 1.570795 0" xyz="0.06 0 0"/>
    <limit effort="1.765197" lower="-1.570795" upper="1.570795" velocity="6.178465545"/>
    <dynamics damping="7.0" friction="0.10"/>
    <axis xyz="0 1 0"/>
  </joint>
  <!--q_1_i_4-->
  <joint name="q_1_4_4" type="revolute">
    <parent link="leg_B_4_4"/>
    <child link="leg_B_4_5"/>
    <origin rpy="-1.570795 0 0" xyz="0.08 0 0"/>
    <limit effort="1.765197" lower="-1.570795" upper="1.570795" velocity="6.178465545"/>
    <dynamics damping="7.0" friction="0.1"/>
    <axis xyz="0 0 1"/>
  </joint>
  <!-- **************************************************************************************************************************************** -->
  <!-- ******* INERTIAL PROPRIETIS (LINKS) ******* -->
  <!-- **************************************************************************************************************************************** -->
  <!--folding fan robot bottom link-->
  <link name="folding_fan_link_4">
    <pose>0 0 0 0 0 0</pose>
    <selfCollide>1</selfCollide>
    <inertial>
      <mass value="0.8"/>
      <origin rpy="0 0 0" xyz="0 0 0"/>
      <inertia ixx="0.000344066666667" ixy="0.01" ixz="0.01" iyy="0.000344066666667" iyz="0.01" izz="0.00802406666667"/>
    </inertial>
    <visual>
      <origin rpy="0 0 0" xyz="0 0 0"/>
      <geometry>
        <cylinder length="0.019" radius="0.04"/>
      </geometry>
    </visual>
  </link>
  <!--folding fan robot bottom link-->
  <link name="leg_B_4_1">
    <pose>0 0 0 0 0 0</pose>
    <selfCollide>1</selfCollide>
    <inertial>
      <mass value="0.8"/>
      <origin rpy="0 0 0" xyz="0 0 0"/>
      <inertia ixx="6.90666666667e-05" ixy="0.01" ixz="0.01" iyy="6.90666666667e-05" iyz="0.01" izz="0.00302406666667"/>
    </inertial>
    <collision name="leg_B_4_1">
      <origin rpy="0 0 0" xyz="0 0 0"/>
      <geometry>
        <cylinder length="0.0038" radius="0.003"/>
      </geometry>
      <surface>
        <contact>
          <poissons_ratio>0.347</poissons_ratio>
          <elastic_modulus>8.8e+09</elastic_modulus>
          <ode>
            <soft_cfm>0.01</soft_cfm>
            <soft_erp>0.3</soft_erp>
            <kp>1000</kp>
            <kd>10</kd>
            <max_vel>100.0</max_vel>
            <min_depth>0.001</min_depth>
          </ode>
        </contact>
      </surface>
    </collision>
  </link>
  <!--leg_B_i_2 link-->
  <link name="leg_B_4_2">
    <pose>0 0 0 0 0 0</pose>
    <selfCollide>1</selfCollide>
    <inertial>
      <mass value="0.06"/>
      <origin rpy="0 1.570795 0" xyz="0.04 0 0"/>
      <inertia ixx="0.0004" ixy="0.01" ixz="0.01" iyy="0.01" iyz="0.01" izz="0.0004"/>
    </inertial>
    <collision name="leg_B_4_2">
      <origin rpy="0 1.570795 0" xyz="0.04 0 0"/>
      <geometry>
        <cylinder length="0.024" radius="0.003"/>
      </geometry>
      <surface>
        <contact>
          <poissons_ratio>0.347</poissons_ratio>
          <elastic_modulus>8.8e+09</elastic_modulus>
          <ode>
            <soft_cfm>0.01</soft_cfm>
            <soft_erp>0.3</soft_erp>
            <kp>1000</kp>
            <kd>10</kd>
            <max_vel>100.0</max_vel>
            <min_depth>0.001</min_depth>
          </ode>
        </contact>
      </surface>
    </collision>
    <visual>
      <origin rpy="0 1.570795 0" xyz="0.04 0 0"/>
      <geometry>
        <cylinder length="0.08" radius="0.005"/>
      </geometry>
    </visual>
  </link>
  <!--leg_B_i_3 link-->
  <link name="leg_B_4_3">
    <pose>0 0 0 0 0 0</pose>
    <selfCollide>1</selfCollide>
    <inertial>
      <mass value="0.06"/>
      <origin rpy="0 1.570795 0" xyz="0.03 0 0"/>
      <inertia ixx="0.0003" ixy="0.01" ixz="0.01" iyy="0.01" iyz="0.01" izz="0.0003"/>
    </inertial>
    <collision name="leg_B_4_3">
      <origin rpy="0 1.570795 0" xyz="0.03 0 0"/>
      <geometry>
        <cylinder length="0.036" radius="0.003"/>
      </geometry>
      <surface>
        <contact>
          <poissons_ratio>0.347</poissons_ratio>
          <elastic_modulus>8.8e+09</elastic_modulus>
          <ode>
            <soft_cfm>0.01</soft_cfm>
            <soft_erp>0.3</soft_erp>
            <kp>1000</kp>
            <kd>10</kd>
            <max_vel>100.0</max_vel>
            <min_depth>0.001</min_depth>
          </ode>
        </contact>
      </surface>
    </collision>
    <visual>
      <origin rpy="0 1.570795 0" xyz="0.03 0 0"/>
      <geometry>
        <cylinder length="0.06" radius="0.005"/>
      </geometry>
    </visual>
  </link>
  <!--leg_B_i_4 link-->
  <link name="leg_B_4_4">
    <pose>0 0 0 0 0 0</pose>
    <selfCollide>1</selfCollide>
    <inertial>
      <mass value="0.06"/>
      <origin rpy="0 -1.570795 0" xyz="0.04 0 0"/>
      <inertia ixx="0.0004" ixy="0.01" ixz="0.01" iyy="0.01" iyz="0.01" izz="0.0004"/>
    </inertial>
    <collision name="leg_B_4_4">
      <origin rpy="0 -1.570795 0" xyz="0.04 0 0"/>
      <geometry>
        <cylinder length="0.048" radius="0.003"/>
      </geometry>
    </collision>
    <surface>
      <contact>
        <poissons_ratio>0.347</poissons_ratio>
        <elastic_modulus>8.8e+09</elastic_modulus>
        <ode>
          <soft_cfm>0.01</soft_cfm>
          <soft_erp>0.3</soft_erp>
          <kp>1000</kp>
          <kd>10</kd>
          <max_vel>100.0</max_vel>
          <min_depth>0.001</min_depth>
        </ode>
      </contact>
    </surface>
    <visual>
      <origin rpy="0.0 -1.570795 0" xyz="0.04 0 0"/>
      <geometry>
        <cylinder length="0.08" radius="0.005"/>
      </geometry>
    </visual>
  </link>
  <!--leg_B_i_5 link-->
  <link name="leg_B_4_5">
    <pose>0 0 0 0 0 0</pose>
    <selfCollide>1</selfCollide>
    <inertial>
      <mass value="0.06"/>
      <origin rpy="0 1.570795 0" xyz="0.03 0 0"/>
      <inertia ixx="0.0003" ixy="0.01" ixz="0.01" iyy="0.01" iyz="0.01" izz="0.0003"/>
    </inertial>
    <collision name="leg_B_4_5">
      <origin rpy="0 1.570795 0" xyz="0.03 0 0"/>
      <geometry>
        <cylinder length="0.036" radius="0.003"/>
      </geometry>
      <surface>
        <contact>
          <poissons_ratio>0.347</poissons_ratio>
          <elastic_modulus>8.8e+09</elastic_modulus>
          <ode>
            <soft_cfm>0.01</soft_cfm>
            <soft_erp>0.3</soft_erp>
            <kp>1000</kp>
            <kd>10</kd>
            <max_vel>100.0</max_vel>
            <min_depth>0.001</min_depth>
          </ode>
        </contact>
      </surface>
    </collision>
    <visual>
      <origin rpy="0 1.570795 0" xyz="0.03 0 0"/>
      <geometry>
        <cylinder length="0.06" radius="0.005"/>
      </geometry>
    </visual>
  </link>
  <gazebo reference="folding_fan_link_4">
    <implicitSpringDamper>True</implicitSpringDamper>
    <selfCollide>1</selfCollide>
  </gazebo>
  <gazebo reference="folding_fan_link_4">
    <implicitSpringDamper>True</implicitSpringDamper>
    <selfCollide>1</selfCollide>
  </gazebo>
  <gazebo reference="leg_B_4_0">
    <implicitSpringDamper>True</implicitSpringDamper>
    <selfCollide>1</selfCollide>
  </gazebo>
  <gazebo reference="leg_B_4_1">
    <implicitSpringDamper>True</implicitSpringDamper>
    <selfCollide>1</selfCollide>
  </gazebo>
  <gazebo reference="leg_B_4_2">
    <implicitSpringDamper>True</implicitSpringDamper>
    <selfCollide>1</selfCollide>
  </gazebo>
  <gazebo reference="leg_B_4_3">
    <implicitSpringDamper>True</implicitSpringDamper>
    <selfCollide>1</selfCollide>
  </gazebo>
  <gazebo reference="leg_B_4_4">
    <implicitSpringDamper>True</implicitSpringDamper>
    <selfCollide>1</selfCollide>
  </gazebo>
  <gazebo reference="leg_B_4_5">
    <implicitSpringDamper>True</implicitSpringDamper>
    <selfCollide>1</selfCollide>
  </gazebo>
  <transmission name="tran_1_4_1">
    <type>transmission_interface/SimpleTransmission</type>
    <joint name="q_1_4_1">
      <hardwareInterface>hardware_interface/PositionJointInterface</hardwareInterface>
    </joint>
    <actuator name="motor_1_4_1">
      <hardwareInterface>hardware_interface/PositionJointInterface</hardwareInterface>
      <mechanicalReduction>1</mechanicalReduction>
    </actuator>
  </transmission>
  <transmission name="tran_1_4_2">
    <type>transmission_interface/SimpleTransmission</type>
    <joint name="q_1_4_2">
      <hardwareInterface>hardware_interface/PositionJointInterface</hardwareInterface>
    </joint>
    <actuator name="motor_1_4_2">
      <hardwareInterface>hardware_interface/PositionJointInterface</hardwareInterface>
      <mechanicalReduction>1</mechanicalReduction>
    </actuator>
  </transmission>
  <transmission name="tran_1_4_3">
    <type>transmission_interface/SimpleTransmission</type>
    <joint name="q_1_4_3">
      <hardwareInterface>hardware_interface/PositionJointInterface</hardwareInterface>
    </joint>
    <actuator name="motor_1_4_3">
      <hardwareInterface>hardware_interface/PositionJointInterface</hardwareInterface>
      <mechanicalReduction>1</mechanicalReduction>
    </actuator>
  </transmission>
  <transmission name="tran_1_4_4">
    <type>transmission_interface/SimpleTransmission</type>
    <joint name="q_1_4_4">
      <hardwareInterface>hardware_interface/PositionJointInterface</hardwareInterface>
    </joint>
    <actuator name="motor_1_4_4_">
      <hardwareInterface>hardware_interface/PositionJointInterface</hardwareInterface>
      <mechanicalReduction>1</mechanicalReduction>
    </actuator>
  </transmission>
  <!-- **************************************************************************************************************************************** -->
  <!-- ******* KINEMATIC PROPRIETIS (JOINTS) ******* -->
  <!-- **************************************************************************************************************************************** -->
  <!--base to folding fan bottom joint-->
  <joint name="folding_fan_joint_5" type="fixed">
    <parent link="base_link"/>
    <child link="folding_fan_link_5"/>
    <origin rpy="0 0 5.23595" xyz="0 0 -0.03"/>
    <!--limit effort="0" velocity="0.0" upper="0.0001" lower ="-0.0001" /-->
    <dynamics damping="20.0" friction="1000"/>
    <axis xyz="0 0 1"/>
  </joint>
  <!--q_1_1_0 FIXED-->
  <joint name="q_1_5_0_FIXED" type="fixed">
    <parent link="folding_fan_link_5"/>
    <child link="leg_B_5_1"/>
    <origin rpy="0 0 0" xyz="0.055 0 0"/>
    <dynamics damping="20.0" friction="1000"/>
    <!--limit effort="0" velocity="0.0" upper="0.0001" lower ="-0.0001" /-->
    <axis xyz="0 0 1"/>
  </joint>
  <!--q_1_i_1-->
  <joint name="q_1_5_1" type="revolute">
    <parent link="leg_B_5_1"/>
    <child link="leg_B_5_2"/>
    <origin rpy="0 0 0" xyz="0 0 0"/>
    <limit effort="1.4709975" lower="0" upper="3.14159" velocity="6.178465545"/>
    <dynamics damping="7.0" friction="0.1"/>
    <!--mimic joint="q_c" multiplier="1" offset="0" /-->
    <axis xyz="0 0 1"/>
  </joint>
  <!--q_1_i_2-->
  <joint name="q_1_5_2" type="revolute">
    <parent link="leg_B_5_2"/>
    <child link="leg_B_5_3"/>
    <origin rpy="0 0 0" xyz="0.08 0 0"/>
    <limit effort="1.4709975" lower="-1.570795" upper="1.570795" velocity="6.178465545"/>
    <dynamics damping="0.7" friction="1000"/>
    <axis xyz="0 0 1"/>
  </joint>
  <!--q_1_i_3-->
  <joint name="q_1_5_3" type="revolute">
    <parent link="leg_B_5_3"/>
    <child link="leg_B_5_4"/>
    <origin rpy="0 1.570795 0" xyz="0.06 0 0"/>
    <limit effort="1.765197" lower="-1.570795" upper="1.570795" velocity="6.178465545"/>
    <dynamics damping="7.0" friction="0.10"/>
    <axis xyz="0 1 0"/>
  </joint>
  <!--q_1_i_4-->
  <joint name="q_1_5_4" type="revolute">
    <parent link="leg_B_5_4"/>
    <child link="leg_B_5_5"/>
    <origin rpy="-1.570795 0 0" xyz="0.08 0 0"/>
    <limit effort="1.765197" lower="-1.570795" upper="1.570795" velocity="6.178465545"/>
    <dynamics damping="7.0" friction="0.1"/>
    <axis xyz="0 0 1"/>
  </joint>
  <!-- **************************************************************************************************************************************** -->
  <!-- ******* INERTIAL PROPRIETIS (LINKS) ******* -->
  <!-- **************************************************************************************************************************************** -->
  <!--folding fan robot bottom link-->
  <link name="folding_fan_link_5">
    <pose>0 0 0 0 0 0</pose>
    <selfCollide>1</selfCollide>
    <inertial>
      <mass value="0.8"/>
      <origin rpy="0 0 0" xyz="0 0 0"/>
      <inertia ixx="0.000344066666667" ixy="0.01" ixz="0.01" iyy="0.000344066666667" iyz="0.01" izz="0.00802406666667"/>
    </inertial>
    <visual>
      <origin rpy="0 0 0" xyz="0 0 0"/>
      <geometry>
        <cylinder length="0.019" radius="0.04"/>
      </geometry>
    </visual>
  </link>
  <!--folding fan robot bottom link-->
  <link name="leg_B_5_1">
    <pose>0 0 0 0 0 0</pose>
    <selfCollide>1</selfCollide>
    <inertial>
      <mass value="0.8"/>
      <origin rpy="0 0 0" xyz="0 0 0"/>
      <inertia ixx="6.90666666667e-05" ixy="0.01" ixz="0.01" iyy="6.90666666667e-05" iyz="0.01" izz="0.00302406666667"/>
    </inertial>
    <collision name="leg_B_5_1">
      <origin rpy="0 0 0" xyz="0 0 0"/>
      <geometry>
        <cylinder length="0.0038" radius="0.003"/>
      </geometry>
      <surface>
        <contact>
          <poissons_ratio>0.347</poissons_ratio>
          <elastic_modulus>8.8e+09</elastic_modulus>
          <ode>
            <soft_cfm>0.01</soft_cfm>
            <soft_erp>0.3</soft_erp>
            <kp>1000</kp>
            <kd>10</kd>
            <max_vel>100.0</max_vel>
            <min_depth>0.001</min_depth>
          </ode>
        </contact>
      </surface>
    </collision>
  </link>
  <!--leg_B_i_2 link-->
  <link name="leg_B_5_2">
    <pose>0 0 0 0 0 0</pose>
    <selfCollide>1</selfCollide>
    <inertial>
      <mass value="0.06"/>
      <origin rpy="0 1.570795 0" xyz="0.04 0 0"/>
      <inertia ixx="0.0004" ixy="0.01" ixz="0.01" iyy="0.01" iyz="0.01" izz="0.0004"/>
    </inertial>
    <collision name="leg_B_5_2">
      <origin rpy="0 1.570795 0" xyz="0.04 0 0"/>
      <geometry>
        <cylinder length="0.024" radius="0.003"/>
      </geometry>
      <surface>
        <contact>
          <poissons_ratio>0.347</poissons_ratio>
          <elastic_modulus>8.8e+09</elastic_modulus>
          <ode>
            <soft_cfm>0.01</soft_cfm>
            <soft_erp>0.3</soft_erp>
            <kp>1000</kp>
            <kd>10</kd>
            <max_vel>100.0</max_vel>
            <min_depth>0.001</min_depth>
          </ode>
        </contact>
      </surface>
    </collision>
    <visual>
      <origin rpy="0 1.570795 0" xyz="0.04 0 0"/>
      <geometry>
        <cylinder length="0.08" radius="0.005"/>
      </geometry>
    </visual>
  </link>
  <!--leg_B_i_3 link-->
  <link name="leg_B_5_3">
    <pose>0 0 0 0 0 0</pose>
    <selfCollide>1</selfCollide>
    <inertial>
      <mass value="0.06"/>
      <origin rpy="0 1.570795 0" xyz="0.03 0 0"/>
      <inertia ixx="0.0003" ixy="0.01" ixz="0.01" iyy="0.01" iyz="0.01" izz="0.0003"/>
    </inertial>
    <collision name="leg_B_5_3">
      <origin rpy="0 1.570795 0" xyz="0.03 0 0"/>
      <geometry>
        <cylinder length="0.036" radius="0.003"/>
      </geometry>
      <surface>
        <contact>
          <poissons_ratio>0.347</poissons_ratio>
          <elastic_modulus>8.8e+09</elastic_modulus>
          <ode>
            <soft_cfm>0.01</soft_cfm>
            <soft_erp>0.3</soft_erp>
            <kp>1000</kp>
            <kd>10</kd>
            <max_vel>100.0</max_vel>
            <min_depth>0.001</min_depth>
          </ode>
        </contact>
      </surface>
    </collision>
    <visual>
      <origin rpy="0 1.570795 0" xyz="0.03 0 0"/>
      <geometry>
        <cylinder length="0.06" radius="0.005"/>
      </geometry>
    </visual>
  </link>
  <!--leg_B_i_4 link-->
  <link name="leg_B_5_4">
    <pose>0 0 0 0 0 0</pose>
    <selfCollide>1</selfCollide>
    <inertial>
      <mass value="0.06"/>
      <origin rpy="0 -1.570795 0" xyz="0.04 0 0"/>
      <inertia ixx="0.0004" ixy="0.01" ixz="0.01" iyy="0.01" iyz="0.01" izz="0.0004"/>
    </inertial>
    <collision name="leg_B_5_4">
      <origin rpy="0 -1.570795 0" xyz="0.04 0 0"/>
      <geometry>
        <cylinder length="0.048" radius="0.003"/>
      </geometry>
    </collision>
    <surface>
      <contact>
        <poissons_ratio>0.347</poissons_ratio>
        <elastic_modulus>8.8e+09</elastic_modulus>
        <ode>
          <soft_cfm>0.01</soft_cfm>
          <soft_erp>0.3</soft_erp>
          <kp>1000</kp>
          <kd>10</kd>
          <max_vel>100.0</max_vel>
          <min_depth>0.001</min_depth>
        </ode>
      </contact>
    </surface>
    <visual>
      <origin rpy="0.0 -1.570795 0" xyz="0.04 0 0"/>
      <geometry>
        <cylinder length="0.08" radius="0.005"/>
      </geometry>
    </visual>
  </link>
  <!--leg_B_i_5 link-->
  <link name="leg_B_5_5">
    <pose>0 0 0 0 0 0</pose>
    <selfCollide>1</selfCollide>
    <inertial>
      <mass value="0.06"/>
      <origin rpy="0 1.570795 0" xyz="0.03 0 0"/>
      <inertia ixx="0.0003" ixy="0.01" ixz="0.01" iyy="0.01" iyz="0.01" izz="0.0003"/>
    </inertial>
    <collision name="leg_B_5_5">
      <origin rpy="0 1.570795 0" xyz="0.03 0 0"/>
      <geometry>
        <cylinder length="0.036" radius="0.003"/>
      </geometry>
      <surface>
        <contact>
          <poissons_ratio>0.347</poissons_ratio>
          <elastic_modulus>8.8e+09</elastic_modulus>
          <ode>
            <soft_cfm>0.01</soft_cfm>
            <soft_erp>0.3</soft_erp>
            <kp>1000</kp>
            <kd>10</kd>
            <max_vel>100.0</max_vel>
            <min_depth>0.001</min_depth>
          </ode>
        </contact>
      </surface>
    </collision>
    <visual>
      <origin rpy="0 1.570795 0" xyz="0.03 0 0"/>
      <geometry>
        <cylinder length="0.06" radius="0.005"/>
      </geometry>
    </visual>
  </link>
  <gazebo reference="folding_fan_link_5">
    <implicitSpringDamper>True</implicitSpringDamper>
    <selfCollide>1</selfCollide>
  </gazebo>
  <gazebo reference="folding_fan_link_5">
    <implicitSpringDamper>True</implicitSpringDamper>
    <selfCollide>1</selfCollide>
  </gazebo>
  <gazebo reference="leg_B_5_0">
    <implicitSpringDamper>True</implicitSpringDamper>
    <selfCollide>1</selfCollide>
  </gazebo>
  <gazebo reference="leg_B_5_1">
    <implicitSpringDamper>True</implicitSpringDamper>
    <selfCollide>1</selfCollide>
  </gazebo>
  <gazebo reference="leg_B_5_2">
    <implicitSpringDamper>True</implicitSpringDamper>
    <selfCollide>1</selfCollide>
  </gazebo>
  <gazebo reference="leg_B_5_3">
    <implicitSpringDamper>True</implicitSpringDamper>
    <selfCollide>1</selfCollide>
  </gazebo>
  <gazebo reference="leg_B_5_4">
    <implicitSpringDamper>True</implicitSpringDamper>
    <selfCollide>1</selfCollide>
  </gazebo>
  <gazebo reference="leg_B_5_5">
    <implicitSpringDamper>True</implicitSpringDamper>
    <selfCollide>1</selfCollide>
  </gazebo>
  <transmission name="tran_1_5_1">
    <type>transmission_interface/SimpleTransmission</type>
    <joint name="q_1_5_1">
      <hardwareInterface>hardware_interface/PositionJointInterface</hardwareInterface>
    </joint>
    <actuator name="motor_1_5_1">
      <hardwareInterface>hardware_interface/PositionJointInterface</hardwareInterface>
      <mechanicalReduction>1</mechanicalReduction>
    </actuator>
  </transmission>
  <transmission name="tran_1_5_2">
    <type>transmission_interface/SimpleTransmission</type>
    <joint name="q_1_5_2">
      <hardwareInterface>hardware_interface/PositionJointInterface</hardwareInterface>
    </joint>
    <actuator name="motor_1_5_2">
      <hardwareInterface>hardware_interface/PositionJointInterface</hardwareInterface>
      <mechanicalReduction>1</mechanicalReduction>
    </actuator>
  </transmission>
  <transmission name="tran_1_5_3">
    <type>transmission_interface/SimpleTransmission</type>
    <joint name="q_1_5_3">
      <hardwareInterface>hardware_interface/PositionJointInterface</hardwareInterface>
    </joint>
    <actuator name="motor_1_5_3">
      <hardwareInterface>hardware_interface/PositionJointInterface</hardwareInterface>
      <mechanicalReduction>1</mechanicalReduction>
    </actuator>
  </transmission>
  <transmission name="tran_1_5_4">
    <type>transmission_interface/SimpleTransmission</type>
    <joint name="q_1_5_4">
      <hardwareInterface>hardware_interface/PositionJointInterface</hardwareInterface>
    </joint>
    <actuator name="motor_1_5_4_">
      <hardwareInterface>hardware_interface/PositionJointInterface</hardwareInterface>
      <mechanicalReduction>1</mechanicalReduction>
    </actuator>
  </transmission>
  <!-- **************************************************************************************************************************************** -->
  <!-- ******* KINEMATIC PROPRIETIS (JOINTS) ******* -->
  <!-- **************************************************************************************************************************************** -->
  <!--base to folding fan bottom joint-->
  <joint name="folding_fan_joint_6" type="fixed">
    <parent link="base_link"/>
    <child link="folding_fan_link_6"/>
    <origin rpy="0 0 6.28314" xyz="0 0 -0.03"/>
    <!--limit effort="0" velocity="0.0" upper="0.0001" lower ="-0.0001" /-->
    <dynamics damping="20.0" friction="1000"/>
    <axis xyz="0 0 1"/>
  </joint>
  <!--q_1_1_0 FIXED-->
  <joint name="q_1_6_0_FIXED" type="fixed">
    <parent link="folding_fan_link_6"/>
    <child link="leg_B_6_1"/>
    <origin rpy="0 0 0" xyz="0.055 0 0"/>
    <dynamics damping="20.0" friction="1000"/>
    <!--limit effort="0" velocity="0.0" upper="0.0001" lower ="-0.0001" /-->
    <axis xyz="0 0 1"/>
  </joint>
  <!--q_1_i_1-->
  <joint name="q_1_6_1" type="revolute">
    <parent link="leg_B_6_1"/>
    <child link="leg_B_6_2"/>
    <origin rpy="0 0 0" xyz="0 0 0"/>
    <limit effort="1.4709975" lower="0" upper="3.14159" velocity="6.178465545"/>
    <dynamics damping="7.0" friction="0.1"/>
    <!--mimic joint="q_c" multiplier="1" offset="0" /-->
    <axis xyz="0 0 1"/>
  </joint>
  <!--q_1_i_2-->
  <joint name="q_1_6_2" type="revolute">
    <parent link="leg_B_6_2"/>
    <child link="leg_B_6_3"/>
    <origin rpy="0 0 0" xyz="0.08 0 0"/>
    <limit effort="1.4709975" lower="-1.570795" upper="1.570795" velocity="6.178465545"/>
    <dynamics damping="0.7" friction="1000"/>
    <axis xyz="0 0 1"/>
  </joint>
  <!--q_1_i_3-->
  <joint name="q_1_6_3" type="revolute">
    <parent link="leg_B_6_3"/>
    <child link="leg_B_6_4"/>
    <origin rpy="0 1.570795 0" xyz="0.06 0 0"/>
    <limit effort="1.765197" lower="-1.570795" upper="1.570795" velocity="6.178465545"/>
    <dynamics damping="7.0" friction="0.10"/>
    <axis xyz="0 1 0"/>
  </joint>
  <!--q_1_i_4-->
  <joint name="q_1_6_4" type="revolute">
    <parent link="leg_B_6_4"/>
    <child link="leg_B_6_5"/>
    <origin rpy="-1.570795 0 0" xyz="0.08 0 0"/>
    <limit effort="1.765197" lower="-1.570795" upper="1.570795" velocity="6.178465545"/>
    <dynamics damping="7.0" friction="0.1"/>
    <axis xyz="0 0 1"/>
  </joint>
  <!-- **************************************************************************************************************************************** -->
  <!-- ******* INERTIAL PROPRIETIS (LINKS) ******* -->
  <!-- **************************************************************************************************************************************** -->
  <!--folding fan robot bottom link-->
  <link name="folding_fan_link_6">
    <pose>0 0 0 0 0 0</pose>
    <selfCollide>1</selfCollide>
    <inertial>
      <mass value="0.8"/>
      <origin rpy="0 0 0" xyz="0 0 0"/>
      <inertia ixx="0.000344066666667" ixy="0.01" ixz="0.01" iyy="0.000344066666667" iyz="0.01" izz="0.00802406666667"/>
    </inertial>
    <visual>
      <origin rpy="0 0 0" xyz="0 0 0"/>
      <geometry>
        <cylinder length="0.019" radius="0.04"/>
      </geometry>
    </visual>
  </link>
  <!--folding fan robot bottom link-->
  <link name="leg_B_6_1">
    <pose>0 0 0 0 0 0</pose>
    <selfCollide>1</selfCollide>
    <inertial>
      <mass value="0.8"/>
      <origin rpy="0 0 0" xyz="0 0 0"/>
      <inertia ixx="6.90666666667e-05" ixy="0.01" ixz="0.01" iyy="6.90666666667e-05" iyz="0.01" izz="0.00302406666667"/>
    </inertial>
    <collision name="leg_B_6_1">
      <origin rpy="0 0 0" xyz="0 0 0"/>
      <geometry>
        <cylinder length="0.0038" radius="0.003"/>
      </geometry>
      <surface>
        <contact>
          <poissons_ratio>0.347</poissons_ratio>
          <elastic_modulus>8.8e+09</elastic_modulus>
          <ode>
            <soft_cfm>0.01</soft_cfm>
            <soft_erp>0.3</soft_erp>
            <kp>1000</kp>
            <kd>10</kd>
            <max_vel>100.0</max_vel>
            <min_depth>0.001</min_depth>
          </ode>
        </contact>
      </surface>
    </collision>
  </link>
  <!--leg_B_i_2 link-->
  <link name="leg_B_6_2">
    <pose>0 0 0 0 0 0</pose>
    <selfCollide>1</selfCollide>
    <inertial>
      <mass value="0.06"/>
      <origin rpy="0 1.570795 0" xyz="0.04 0 0"/>
      <inertia ixx="0.0004" ixy="0.01" ixz="0.01" iyy="0.01" iyz="0.01" izz="0.0004"/>
    </inertial>
    <collision name="leg_B_6_2">
      <origin rpy="0 1.570795 0" xyz="0.04 0 0"/>
      <geometry>
        <cylinder length="0.024" radius="0.003"/>
      </geometry>
      <surface>
        <contact>
          <poissons_ratio>0.347</poissons_ratio>
          <elastic_modulus>8.8e+09</elastic_modulus>
          <ode>
            <soft_cfm>0.01</soft_cfm>
            <soft_erp>0.3</soft_erp>
            <kp>1000</kp>
            <kd>10</kd>
            <max_vel>100.0</max_vel>
            <min_depth>0.001</min_depth>
          </ode>
        </contact>
      </surface>
    </collision>
    <visual>
      <origin rpy="0 1.570795 0" xyz="0.04 0 0"/>
      <geometry>
        <cylinder length="0.08" radius="0.005"/>
      </geometry>
    </visual>
  </link>
  <!--leg_B_i_3 link-->
  <link name="leg_B_6_3">
    <pose>0 0 0 0 0 0</pose>
    <selfCollide>1</selfCollide>
    <inertial>
      <mass value="0.06"/>
      <origin rpy="0 1.570795 0" xyz="0.03 0 0"/>
      <inertia ixx="0.0003" ixy="0.01" ixz="0.01" iyy="0.01" iyz="0.01" izz="0.0003"/>
    </inertial>
    <collision name="leg_B_6_3">
      <origin rpy="0 1.570795 0" xyz="0.03 0 0"/>
      <geometry>
        <cylinder length="0.036" radius="0.003"/>
      </geometry>
      <surface>
        <contact>
          <poissons_ratio>0.347</poissons_ratio>
          <elastic_modulus>8.8e+09</elastic_modulus>
          <ode>
            <soft_cfm>0.01</soft_cfm>
            <soft_erp>0.3</soft_erp>
            <kp>1000</kp>
            <kd>10</kd>
            <max_vel>100.0</max_vel>
            <min_depth>0.001</min_depth>
          </ode>
        </contact>
      </surface>
    </collision>
    <visual>
      <origin rpy="0 1.570795 0" xyz="0.03 0 0"/>
      <geometry>
        <cylinder length="0.06" radius="0.005"/>
      </geometry>
    </visual>
  </link>
  <!--leg_B_i_4 link-->
  <link name="leg_B_6_4">
    <pose>0 0 0 0 0 0</pose>
    <selfCollide>1</selfCollide>
    <inertial>
      <mass value="0.06"/>
      <origin rpy="0 -1.570795 0" xyz="0.04 0 0"/>
      <inertia ixx="0.0004" ixy="0.01" ixz="0.01" iyy="0.01" iyz="0.01" izz="0.0004"/>
    </inertial>
    <collision name="leg_B_6_4">
      <origin rpy="0 -1.570795 0" xyz="0.04 0 0"/>
      <geometry>
        <cylinder length="0.048" radius="0.003"/>
      </geometry>
    </collision>
    <surface>
      <contact>
        <poissons_ratio>0.347</poissons_ratio>
        <elastic_modulus>8.8e+09</elastic_modulus>
        <ode>
          <soft_cfm>0.01</soft_cfm>
          <soft_erp>0.3</soft_erp>
          <kp>1000</kp>
          <kd>10</kd>
          <max_vel>100.0</max_vel>
          <min_depth>0.001</min_depth>
        </ode>
      </contact>
    </surface>
    <visual>
      <origin rpy="0.0 -1.570795 0" xyz="0.04 0 0"/>
      <geometry>
        <cylinder length="0.08" radius="0.005"/>
      </geometry>
    </visual>
  </link>
  <!--leg_B_i_5 link-->
  <link name="leg_B_6_5">
    <pose>0 0 0 0 0 0</pose>
    <selfCollide>1</selfCollide>
    <inertial>
      <mass value="0.06"/>
      <origin rpy="0 1.570795 0" xyz="0.03 0 0"/>
      <inertia ixx="0.0003" ixy="0.01" ixz="0.01" iyy="0.01" iyz="0.01" izz="0.0003"/>
    </inertial>
    <collision name="leg_B_6_5">
      <origin rpy="0 1.570795 0" xyz="0.03 0 0"/>
      <geometry>
        <cylinder length="0.036" radius="0.003"/>
      </geometry>
      <surface>
        <contact>
          <poissons_ratio>0.347</poissons_ratio>
          <elastic_modulus>8.8e+09</elastic_modulus>
          <ode>
            <soft_cfm>0.01</soft_cfm>
            <soft_erp>0.3</soft_erp>
            <kp>1000</kp>
            <kd>10</kd>
            <max_vel>100.0</max_vel>
            <min_depth>0.001</min_depth>
          </ode>
        </contact>
      </surface>
    </collision>
    <visual>
      <origin rpy="0 1.570795 0" xyz="0.03 0 0"/>
      <geometry>
        <cylinder length="0.06" radius="0.005"/>
      </geometry>
    </visual>
  </link>
  <gazebo reference="folding_fan_link_6">
    <implicitSpringDamper>True</implicitSpringDamper>
    <selfCollide>1</selfCollide>
  </gazebo>
  <gazebo reference="folding_fan_link_6">
    <implicitSpringDamper>True</implicitSpringDamper>
    <selfCollide>1</selfCollide>
  </gazebo>
  <gazebo reference="leg_B_6_0">
    <implicitSpringDamper>True</implicitSpringDamper>
    <selfCollide>1</selfCollide>
  </gazebo>
  <gazebo reference="leg_B_6_1">
    <implicitSpringDamper>True</implicitSpringDamper>
    <selfCollide>1</selfCollide>
  </gazebo>
  <gazebo reference="leg_B_6_2">
    <implicitSpringDamper>True</implicitSpringDamper>
    <selfCollide>1</selfCollide>
  </gazebo>
  <gazebo reference="leg_B_6_3">
    <implicitSpringDamper>True</implicitSpringDamper>
    <selfCollide>1</selfCollide>
  </gazebo>
  <gazebo reference="leg_B_6_4">
    <implicitSpringDamper>True</implicitSpringDamper>
    <selfCollide>1</selfCollide>
  </gazebo>
  <gazebo reference="leg_B_6_5">
    <implicitSpringDamper>True</implicitSpringDamper>
    <selfCollide>1</selfCollide>
  </gazebo>
  <transmission name="tran_1_6_1">
    <type>transmission_interface/SimpleTransmission</type>
    <joint name="q_1_6_1">
      <hardwareInterface>hardware_interface/PositionJointInterface</hardwareInterface>
    </joint>
    <actuator name="motor_1_6_1">
      <hardwareInterface>hardware_interface/PositionJointInterface</hardwareInterface>
      <mechanicalReduction>1</mechanicalReduction>
    </actuator>
  </transmission>
  <transmission name="tran_1_6_2">
    <type>transmission_interface/SimpleTransmission</type>
    <joint name="q_1_6_2">
      <hardwareInterface>hardware_interface/PositionJointInterface</hardwareInterface>
    </joint>
    <actuator name="motor_1_6_2">
      <hardwareInterface>hardware_interface/PositionJointInterface</hardwareInterface>
      <mechanicalReduction>1</mechanicalReduction>
    </actuator>
  </transmission>
  <transmission name="tran_1_6_3">
    <type>transmission_interface/SimpleTransmission</type>
    <joint name="q_1_6_3">
      <hardwareInterface>hardware_interface/PositionJointInterface</hardwareInterface>
    </joint>
    <actuator name="motor_1_6_3">
      <hardwareInterface>hardware_interface/PositionJointInterface</hardwareInterface>
      <mechanicalReduction>1</mechanicalReduction>
    </actuator>
  </transmission>
  <transmission name="tran_1_6_4">
    <type>transmission_interface/SimpleTransmission</type>
    <joint name="q_1_6_4">
      <hardwareInterface>hardware_interface/PositionJointInterface</hardwareInterface>
    </joint>
    <actuator name="motor_1_6_4_">
      <hardwareInterface>hardware_interface/PositionJointInterface</hardwareInterface>
      <mechanicalReduction>1</mechanicalReduction>
    </actuator>
  </transmission>
  <!--base to folding fan bottom joint-->
  <joint name="folding_fan_upper_joint_1" type="fixed">
    <parent link="base_link"/>
    <child link="FF_link_U_1"/>
    <origin rpy="0 0 1.04719" xyz="0 0 0.09"/>
    <!--limit effort="0" velocity="0.0" upper="0.0001" lower ="-0.0001" /-->
    <dynamics damping="7.0" friction="0.1"/>
  </joint>
  <!--fixed link-->
  <link name="FF_link_U_1">
    <pose>0 0 0 0 0 0</pose>
    <selfCollide>1</selfCollide>
    <origin rpy="0 0 0" xyz="0 0 0"/>
    <surface>
      <contact>
        <poissons_ratio>0.347</poissons_ratio>
        <elastic_modulus>8.8e+09</elastic_modulus>
        <ode>
          <soft_cfm>0.01</soft_cfm>
          <soft_erp>0.3</soft_erp>
          <kp>1000</kp>
          <kd>10</kd>
          <max_vel>100.0</max_vel>
          <min_depth>0.001</min_depth>
        </ode>
      </contact>
    </surface>
    <inertial>
      <mass value="0.1"/>
      <origin rpy="0 0 0" xyz="0 0 0"/>
      <inertia ixx="0.01" ixy="0.01" ixz="0.01" iyy="0.01" iyz="0.01" izz="0.01"/>
    </inertial>
  </link>
  <!--q_2_i_1-->
  <joint name="q_2_1_1" type="revolute">
    <parent link="FF_link_U_1"/>
    <child link="L_U_1_1"/>
    <origin rpy="0 0 0" xyz="0.08 0 0"/>
    <limit effort="1.4709975" lower="-1.570795" upper="1.570795" velocity="6.178465545"/>
    <dynamics damping="7.0" friction="0.1"/>
    <axis xyz="0 1 0"/>
  </joint>
  <!--q_2_i_2-->
  <joint name="q_2_1_2" type="revolute">
    <parent link="L_U_1_1"/>
    <child link="L_U_1_2"/>
    <origin rpy="0 -1.570795 0" xyz="0.06 0 0"/>
    <limit effort="1.4709975" lower="-1.570795" upper="1.570795" velocity="6.178465545"/>
    <dynamics damping="7.0" friction="0.1"/>
    <axis xyz="0 1 0"/>
  </joint>
  <!--leg_U_i_1 link-->
  <link name="L_U_1_1">
    <pose>0 0 0 0 0 0</pose>
    <selfCollide>1</selfCollide>
    <inertial>
      <mass value="0.06"/>
      <origin rpy="0 1.570795 0" xyz="0.03 0 0"/>
      <inertia ixx="0.0003" ixy="0.01" ixz="0.01" iyy="0.01" iyz="0.01" izz="0.0003"/>
    </inertial>
    <collision name="L_U_1_1">
      <origin rpy="0 1.570795 0" xyz="0.03 0 0"/>
      <geometry>
        <cylinder length="0.036" radius="0.003"/>
      </geometry>
      <surface>
        <contact>
          <poissons_ratio>0.347</poissons_ratio>
          <elastic_modulus>8.8e+09</elastic_modulus>
          <ode>
            <soft_cfm>0.001</soft_cfm>
            <soft_erp>0.3</soft_erp>
            <kp>1000</kp>
            <kd>10</kd>
            <max_vel>0.0</max_vel>
            <min_depth>0.1</min_depth>
          </ode>
        </contact>
      </surface>
    </collision>
    <visual>
      <origin rpy="0 1.570795 0" xyz="0.03 0 0"/>
      <geometry>
        <cylinder length="0.06" radius="0.005"/>
      </geometry>
    </visual>
  </link>
  <!--leg_U_i_1 link-->
  <link name="L_U_1_2">
    <pose>0 0 0 0 0 0</pose>
    <selfCollide>1</selfCollide>
    <inertial>
      <mass value="0.06"/>
      <origin rpy="0 1.570795 0" xyz="0.03 0 0"/>
      <inertia ixx="0.0003" ixy="0.01" ixz="0.01" iyy="0.01" iyz="0.01" izz="0.0003"/>
    </inertial>
    <collision name="L_U_1_2">
      <origin rpy="0 1.570795 0" xyz="0.03 0 0"/>
      <geometry>
        <cylinder length="0.036" radius="0.003"/>
      </geometry>
      <surface>
        <contact>
          <poissons_ratio>0.347</poissons_ratio>
          <elastic_modulus>8.8e+09</elastic_modulus>
          <ode>
            <soft_cfm>0.01</soft_cfm>
            <soft_erp>0.3</soft_erp>
            <kp>1000</kp>
            <kd>10</kd>
            <max_vel>100.0</max_vel>
            <min_depth>0.1</min_depth>
          </ode>
        </contact>
      </surface>
    </collision>
    <visual>
      <origin rpy="0 1.570795 0" xyz="0.03 0 0"/>
      <geometry>
        <cylinder length="0.06" radius="0.005"/>
      </geometry>
    </visual>
  </link>
  <gazebo reference="FF_link_U_1">
    <implicitSpringDamper>True</implicitSpringDamper>
    <selfCollide>1</selfCollide>
  </gazebo>
  <gazebo reference="leg_U_1_1">
    <implicitSpringDamper>True</implicitSpringDamper>
    <selfCollide>1</selfCollide>
  </gazebo>
  <gazebo reference="leg_U_1_2">
    <implicitSpringDamper>True</implicitSpringDamper>
    <selfCollide>1</selfCollide>
  </gazebo>
  <transmission name="tran_2_1_1">
    <type>transmission_interface/SimpleTransmission</type>
    <joint name="q_2_1_1">
      <hardwareInterface>hardware_interface/PositionJointInterface</hardwareInterface>
    </joint>
    <actuator name="motor_2_1_1">
      <hardwareInterface>hardware_interface/PositionJointInterface</hardwareInterface>
      <mechanicalReduction>1</mechanicalReduction>
    </actuator>
  </transmission>
  <transmission name="tran_2_1_2">
    <type>transmission_interface/SimpleTransmission</type>
    <joint name="q_2_1_2">
      <hardwareInterface>hardware_interface/PositionJointInterface</hardwareInterface>
    </joint>
    <actuator name="motor_2_1_2">
      <hardwareInterface>hardware_interface/PositionJointInterface</hardwareInterface>
      <mechanicalReduction>1</mechanicalReduction>
    </actuator>
  </transmission>
  <!--base to folding fan bottom joint-->
  <joint name="folding_fan_upper_joint_2" type="fixed">
    <parent link="base_link"/>
    <child link="FF_link_U_2"/>
    <origin rpy="0 0 2.09438" xyz="0 0 0.09"/>
    <!--limit effort="0" velocity="0.0" upper="0.0001" lower ="-0.0001" /-->
    <dynamics damping="7.0" friction="0.1"/>
  </joint>
  <!--fixed link-->
  <link name="FF_link_U_2">
    <pose>0 0 0 0 0 0</pose>
    <selfCollide>1</selfCollide>
    <origin rpy="0 0 0" xyz="0 0 0"/>
    <surface>
      <contact>
        <poissons_ratio>0.347</poissons_ratio>
        <elastic_modulus>8.8e+09</elastic_modulus>
        <ode>
          <soft_cfm>0.01</soft_cfm>
          <soft_erp>0.3</soft_erp>
          <kp>1000</kp>
          <kd>10</kd>
          <max_vel>100.0</max_vel>
          <min_depth>0.001</min_depth>
        </ode>
      </contact>
    </surface>
    <inertial>
      <mass value="0.1"/>
      <origin rpy="0 0 0" xyz="0 0 0"/>
      <inertia ixx="0.01" ixy="0.01" ixz="0.01" iyy="0.01" iyz="0.01" izz="0.01"/>
    </inertial>
  </link>
  <!--q_2_i_1-->
  <joint name="q_2_2_1" type="revolute">
    <parent link="FF_link_U_2"/>
    <child link="L_U_2_1"/>
    <origin rpy="0 0 0" xyz="0.08 0 0"/>
    <limit effort="1.4709975" lower="-1.570795" upper="1.570795" velocity="6.178465545"/>
    <dynamics damping="7.0" friction="0.1"/>
    <axis xyz="0 1 0"/>
  </joint>
  <!--q_2_i_2-->
  <joint name="q_2_2_2" type="revolute">
    <parent link="L_U_2_1"/>
    <child link="L_U_2_2"/>
    <origin rpy="0 -1.570795 0" xyz="0.06 0 0"/>
    <limit effort="1.4709975" lower="-1.570795" upper="1.570795" velocity="6.178465545"/>
    <dynamics damping="7.0" friction="0.1"/>
    <axis xyz="0 1 0"/>
  </joint>
  <!--leg_U_i_1 link-->
  <link name="L_U_2_1">
    <pose>0 0 0 0 0 0</pose>
    <selfCollide>1</selfCollide>
    <inertial>
      <mass value="0.06"/>
      <origin rpy="0 1.570795 0" xyz="0.03 0 0"/>
      <inertia ixx="0.0003" ixy="0.01" ixz="0.01" iyy="0.01" iyz="0.01" izz="0.0003"/>
    </inertial>
    <collision name="L_U_2_1">
      <origin rpy="0 1.570795 0" xyz="0.03 0 0"/>
      <geometry>
        <cylinder length="0.036" radius="0.003"/>
      </geometry>
      <surface>
        <contact>
          <poissons_ratio>0.347</poissons_ratio>
          <elastic_modulus>8.8e+09</elastic_modulus>
          <ode>
            <soft_cfm>0.001</soft_cfm>
            <soft_erp>0.3</soft_erp>
            <kp>1000</kp>
            <kd>10</kd>
            <max_vel>0.0</max_vel>
            <min_depth>0.1</min_depth>
          </ode>
        </contact>
      </surface>
    </collision>
    <visual>
      <origin rpy="0 1.570795 0" xyz="0.03 0 0"/>
      <geometry>
        <cylinder length="0.06" radius="0.005"/>
      </geometry>
    </visual>
  </link>
  <!--leg_U_i_1 link-->
  <link name="L_U_2_2">
    <pose>0 0 0 0 0 0</pose>
    <selfCollide>1</selfCollide>
    <inertial>
      <mass value="0.06"/>
      <origin rpy="0 1.570795 0" xyz="0.03 0 0"/>
      <inertia ixx="0.0003" ixy="0.01" ixz="0.01" iyy="0.01" iyz="0.01" izz="0.0003"/>
    </inertial>
    <collision name="L_U_2_2">
      <origin rpy="0 1.570795 0" xyz="0.03 0 0"/>
      <geometry>
        <cylinder length="0.036" radius="0.003"/>
      </geometry>
      <surface>
        <contact>
          <poissons_ratio>0.347</poissons_ratio>
          <elastic_modulus>8.8e+09</elastic_modulus>
          <ode>
            <soft_cfm>0.01</soft_cfm>
            <soft_erp>0.3</soft_erp>
            <kp>1000</kp>
            <kd>10</kd>
            <max_vel>100.0</max_vel>
            <min_depth>0.1</min_depth>
          </ode>
        </contact>
      </surface>
    </collision>
    <visual>
      <origin rpy="0 1.570795 0" xyz="0.03 0 0"/>
      <geometry>
        <cylinder length="0.06" radius="0.005"/>
      </geometry>
    </visual>
  </link>
  <gazebo reference="FF_link_U_2">
    <implicitSpringDamper>True</implicitSpringDamper>
    <selfCollide>1</selfCollide>
  </gazebo>
  <gazebo reference="leg_U_2_1">
    <implicitSpringDamper>True</implicitSpringDamper>
    <selfCollide>1</selfCollide>
  </gazebo>
  <gazebo reference="leg_U_2_2">
    <implicitSpringDamper>True</implicitSpringDamper>
    <selfCollide>1</selfCollide>
  </gazebo>
  <transmission name="tran_2_2_1">
    <type>transmission_interface/SimpleTransmission</type>
    <joint name="q_2_2_1">
      <hardwareInterface>hardware_interface/PositionJointInterface</hardwareInterface>
    </joint>
    <actuator name="motor_2_2_1">
      <hardwareInterface>hardware_interface/PositionJointInterface</hardwareInterface>
      <mechanicalReduction>1</mechanicalReduction>
    </actuator>
  </transmission>
  <transmission name="tran_2_2_2">
    <type>transmission_interface/SimpleTransmission</type>
    <joint name="q_2_2_2">
      <hardwareInterface>hardware_interface/PositionJointInterface</hardwareInterface>
    </joint>
    <actuator name="motor_2_2_2">
      <hardwareInterface>hardware_interface/PositionJointInterface</hardwareInterface>
      <mechanicalReduction>1</mechanicalReduction>
    </actuator>
  </transmission>
  <!--base to folding fan bottom joint-->
  <joint name="folding_fan_upper_joint_3" type="fixed">
    <parent link="base_link"/>
    <child link="FF_link_U_3"/>
    <origin rpy="0 0 3.14157" xyz="0 0 0.09"/>
    <!--limit effort="0" velocity="0.0" upper="0.0001" lower ="-0.0001" /-->
    <dynamics damping="7.0" friction="0.1"/>
  </joint>
  <!--fixed link-->
  <link name="FF_link_U_3">
    <pose>0 0 0 0 0 0</pose>
    <selfCollide>1</selfCollide>
    <origin rpy="0 0 0" xyz="0 0 0"/>
    <surface>
      <contact>
        <poissons_ratio>0.347</poissons_ratio>
        <elastic_modulus>8.8e+09</elastic_modulus>
        <ode>
          <soft_cfm>0.01</soft_cfm>
          <soft_erp>0.3</soft_erp>
          <kp>1000</kp>
          <kd>10</kd>
          <max_vel>100.0</max_vel>
          <min_depth>0.001</min_depth>
        </ode>
      </contact>
    </surface>
    <inertial>
      <mass value="0.1"/>
      <origin rpy="0 0 0" xyz="0 0 0"/>
      <inertia ixx="0.01" ixy="0.01" ixz="0.01" iyy="0.01" iyz="0.01" izz="0.01"/>
    </inertial>
  </link>
  <!--q_2_i_1-->
  <joint name="q_2_3_1" type="revolute">
    <parent link="FF_link_U_3"/>
    <child link="L_U_3_1"/>
    <origin rpy="0 0 0" xyz="0.08 0 0"/>
    <limit effort="1.4709975" lower="-1.570795" upper="1.570795" velocity="6.178465545"/>
    <dynamics damping="7.0" friction="0.1"/>
    <axis xyz="0 1 0"/>
  </joint>
  <!--q_2_i_2-->
  <joint name="q_2_3_2" type="revolute">
    <parent link="L_U_3_1"/>
    <child link="L_U_3_2"/>
    <origin rpy="0 -1.570795 0" xyz="0.06 0 0"/>
    <limit effort="1.4709975" lower="-1.570795" upper="1.570795" velocity="6.178465545"/>
    <dynamics damping="7.0" friction="0.1"/>
    <axis xyz="0 1 0"/>
  </joint>
  <!--leg_U_i_1 link-->
  <link name="L_U_3_1">
    <pose>0 0 0 0 0 0</pose>
    <selfCollide>1</selfCollide>
    <inertial>
      <mass value="0.06"/>
      <origin rpy="0 1.570795 0" xyz="0.03 0 0"/>
      <inertia ixx="0.0003" ixy="0.01" ixz="0.01" iyy="0.01" iyz="0.01" izz="0.0003"/>
    </inertial>
    <collision name="L_U_3_1">
      <origin rpy="0 1.570795 0" xyz="0.03 0 0"/>
      <geometry>
        <cylinder length="0.036" radius="0.003"/>
      </geometry>
      <surface>
        <contact>
          <poissons_ratio>0.347</poissons_ratio>
          <elastic_modulus>8.8e+09</elastic_modulus>
          <ode>
            <soft_cfm>0.001</soft_cfm>
            <soft_erp>0.3</soft_erp>
            <kp>1000</kp>
            <kd>10</kd>
            <max_vel>0.0</max_vel>
            <min_depth>0.1</min_depth>
          </ode>
        </contact>
      </surface>
    </collision>
    <visual>
      <origin rpy="0 1.570795 0" xyz="0.03 0 0"/>
      <geometry>
        <cylinder length="0.06" radius="0.005"/>
      </geometry>
    </visual>
  </link>
  <!--leg_U_i_1 link-->
  <link name="L_U_3_2">
    <pose>0 0 0 0 0 0</pose>
    <selfCollide>1</selfCollide>
    <inertial>
      <mass value="0.06"/>
      <origin rpy="0 1.570795 0" xyz="0.03 0 0"/>
      <inertia ixx="0.0003" ixy="0.01" ixz="0.01" iyy="0.01" iyz="0.01" izz="0.0003"/>
    </inertial>
    <collision name="L_U_3_2">
      <origin rpy="0 1.570795 0" xyz="0.03 0 0"/>
      <geometry>
        <cylinder length="0.036" radius="0.003"/>
      </geometry>
      <surface>
        <contact>
          <poissons_ratio>0.347</poissons_ratio>
          <elastic_modulus>8.8e+09</elastic_modulus>
          <ode>
            <soft_cfm>0.01</soft_cfm>
            <soft_erp>0.3</soft_erp>
            <kp>1000</kp>
            <kd>10</kd>
            <max_vel>100.0</max_vel>
            <min_depth>0.1</min_depth>
          </ode>
        </contact>
      </surface>
    </collision>
    <visual>
      <origin rpy="0 1.570795 0" xyz="0.03 0 0"/>
      <geometry>
        <cylinder length="0.06" radius="0.005"/>
      </geometry>
    </visual>
  </link>
  <gazebo reference="FF_link_U_3">
    <implicitSpringDamper>True</implicitSpringDamper>
    <selfCollide>1</selfCollide>
  </gazebo>
  <gazebo reference="leg_U_3_1">
    <implicitSpringDamper>True</implicitSpringDamper>
    <selfCollide>1</selfCollide>
  </gazebo>
  <gazebo reference="leg_U_3_2">
    <implicitSpringDamper>True</implicitSpringDamper>
    <selfCollide>1</selfCollide>
  </gazebo>
  <transmission name="tran_2_3_1">
    <type>transmission_interface/SimpleTransmission</type>
    <joint name="q_2_3_1">
      <hardwareInterface>hardware_interface/PositionJointInterface</hardwareInterface>
    </joint>
    <actuator name="motor_2_3_1">
      <hardwareInterface>hardware_interface/PositionJointInterface</hardwareInterface>
      <mechanicalReduction>1</mechanicalReduction>
    </actuator>
  </transmission>
  <transmission name="tran_2_3_2">
    <type>transmission_interface/SimpleTransmission</type>
    <joint name="q_2_3_2">
      <hardwareInterface>hardware_interface/PositionJointInterface</hardwareInterface>
    </joint>
    <actuator name="motor_2_3_2">
      <hardwareInterface>hardware_interface/PositionJointInterface</hardwareInterface>
      <mechanicalReduction>1</mechanicalReduction>
    </actuator>
  </transmission>
  <!--base to folding fan bottom joint-->
  <joint name="folding_fan_upper_joint_4" type="fixed">
    <parent link="base_link"/>
    <child link="FF_link_U_4"/>
    <origin rpy="0 0 4.18876" xyz="0 0 0.09"/>
    <!--limit effort="0" velocity="0.0" upper="0.0001" lower ="-0.0001" /-->
    <dynamics damping="7.0" friction="0.1"/>
  </joint>
  <!--fixed link-->
  <link name="FF_link_U_4">
    <pose>0 0 0 0 0 0</pose>
    <selfCollide>1</selfCollide>
    <origin rpy="0 0 0" xyz="0 0 0"/>
    <surface>
      <contact>
        <poissons_ratio>0.347</poissons_ratio>
        <elastic_modulus>8.8e+09</elastic_modulus>
        <ode>
          <soft_cfm>0.01</soft_cfm>
          <soft_erp>0.3</soft_erp>
          <kp>1000</kp>
          <kd>10</kd>
          <max_vel>100.0</max_vel>
          <min_depth>0.001</min_depth>
        </ode>
      </contact>
    </surface>
    <inertial>
      <mass value="0.1"/>
      <origin rpy="0 0 0" xyz="0 0 0"/>
      <inertia ixx="0.01" ixy="0.01" ixz="0.01" iyy="0.01" iyz="0.01" izz="0.01"/>
    </inertial>
  </link>
  <!--q_2_i_1-->
  <joint name="q_2_4_1" type="revolute">
    <parent link="FF_link_U_4"/>
    <child link="L_U_4_1"/>
    <origin rpy="0 0 0" xyz="0.08 0 0"/>
    <limit effort="1.4709975" lower="-1.570795" upper="1.570795" velocity="6.178465545"/>
    <dynamics damping="7.0" friction="0.1"/>
    <axis xyz="0 1 0"/>
  </joint>
  <!--q_2_i_2-->
  <joint name="q_2_4_2" type="revolute">
    <parent link="L_U_4_1"/>
    <child link="L_U_4_2"/>
    <origin rpy="0 -1.570795 0" xyz="0.06 0 0"/>
    <limit effort="1.4709975" lower="-1.570795" upper="1.570795" velocity="6.178465545"/>
    <dynamics damping="7.0" friction="0.1"/>
    <axis xyz="0 1 0"/>
  </joint>
  <!--leg_U_i_1 link-->
  <link name="L_U_4_1">
    <pose>0 0 0 0 0 0</pose>
    <selfCollide>1</selfCollide>
    <inertial>
      <mass value="0.06"/>
      <origin rpy="0 1.570795 0" xyz="0.03 0 0"/>
      <inertia ixx="0.0003" ixy="0.01" ixz="0.01" iyy="0.01" iyz="0.01" izz="0.0003"/>
    </inertial>
    <collision name="L_U_4_1">
      <origin rpy="0 1.570795 0" xyz="0.03 0 0"/>
      <geometry>
        <cylinder length="0.036" radius="0.003"/>
      </geometry>
      <surface>
        <contact>
          <poissons_ratio>0.347</poissons_ratio>
          <elastic_modulus>8.8e+09</elastic_modulus>
          <ode>
            <soft_cfm>0.001</soft_cfm>
            <soft_erp>0.3</soft_erp>
            <kp>1000</kp>
            <kd>10</kd>
            <max_vel>0.0</max_vel>
            <min_depth>0.1</min_depth>
          </ode>
        </contact>
      </surface>
    </collision>
    <visual>
      <origin rpy="0 1.570795 0" xyz="0.03 0 0"/>
      <geometry>
        <cylinder length="0.06" radius="0.005"/>
      </geometry>
    </visual>
  </link>
  <!--leg_U_i_1 link-->
  <link name="L_U_4_2">
    <pose>0 0 0 0 0 0</pose>
    <selfCollide>1</selfCollide>
    <inertial>
      <mass value="0.06"/>
      <origin rpy="0 1.570795 0" xyz="0.03 0 0"/>
      <inertia ixx="0.0003" ixy="0.01" ixz="0.01" iyy="0.01" iyz="0.01" izz="0.0003"/>
    </inertial>
    <collision name="L_U_4_2">
      <origin rpy="0 1.570795 0" xyz="0.03 0 0"/>
      <geometry>
        <cylinder length="0.036" radius="0.003"/>
      </geometry>
      <surface>
        <contact>
          <poissons_ratio>0.347</poissons_ratio>
          <elastic_modulus>8.8e+09</elastic_modulus>
          <ode>
            <soft_cfm>0.01</soft_cfm>
            <soft_erp>0.3</soft_erp>
            <kp>1000</kp>
            <kd>10</kd>
            <max_vel>100.0</max_vel>
            <min_depth>0.1</min_depth>
          </ode>
        </contact>
      </surface>
    </collision>
    <visual>
      <origin rpy="0 1.570795 0" xyz="0.03 0 0"/>
      <geometry>
        <cylinder length="0.06" radius="0.005"/>
      </geometry>
    </visual>
  </link>
  <gazebo reference="FF_link_U_4">
    <implicitSpringDamper>True</implicitSpringDamper>
    <selfCollide>1</selfCollide>
  </gazebo>
  <gazebo reference="leg_U_4_1">
    <implicitSpringDamper>True</implicitSpringDamper>
    <selfCollide>1</selfCollide>
  </gazebo>
  <gazebo reference="leg_U_4_2">
    <implicitSpringDamper>True</implicitSpringDamper>
    <selfCollide>1</selfCollide>
  </gazebo>
  <transmission name="tran_2_4_1">
    <type>transmission_interface/SimpleTransmission</type>
    <joint name="q_2_4_1">
      <hardwareInterface>hardware_interface/PositionJointInterface</hardwareInterface>
    </joint>
    <actuator name="motor_2_4_1">
      <hardwareInterface>hardware_interface/PositionJointInterface</hardwareInterface>
      <mechanicalReduction>1</mechanicalReduction>
    </actuator>
  </transmission>
  <transmission name="tran_2_4_2">
    <type>transmission_interface/SimpleTransmission</type>
    <joint name="q_2_4_2">
      <hardwareInterface>hardware_interface/PositionJointInterface</hardwareInterface>
    </joint>
    <actuator name="motor_2_4_2">
      <hardwareInterface>hardware_interface/PositionJointInterface</hardwareInterface>
      <mechanicalReduction>1</mechanicalReduction>
    </actuator>
  </transmission>
  <!--base to folding fan bottom joint-->
  <joint name="folding_fan_upper_joint_5" type="fixed">
    <parent link="base_link"/>
    <child link="FF_link_U_5"/>
    <origin rpy="0 0 5.23595" xyz="0 0 0.09"/>
    <!--limit effort="0" velocity="0.0" upper="0.0001" lower ="-0.0001" /-->
    <dynamics damping="7.0" friction="0.1"/>
  </joint>
  <!--fixed link-->
  <link name="FF_link_U_5">
    <pose>0 0 0 0 0 0</pose>
    <selfCollide>1</selfCollide>
    <origin rpy="0 0 0" xyz="0 0 0"/>
    <surface>
      <contact>
        <poissons_ratio>0.347</poissons_ratio>
        <elastic_modulus>8.8e+09</elastic_modulus>
        <ode>
          <soft_cfm>0.01</soft_cfm>
          <soft_erp>0.3</soft_erp>
          <kp>1000</kp>
          <kd>10</kd>
          <max_vel>100.0</max_vel>
          <min_depth>0.001</min_depth>
        </ode>
      </contact>
    </surface>
    <inertial>
      <mass value="0.1"/>
      <origin rpy="0 0 0" xyz="0 0 0"/>
      <inertia ixx="0.01" ixy="0.01" ixz="0.01" iyy="0.01" iyz="0.01" izz="0.01"/>
    </inertial>
  </link>
  <!--q_2_i_1-->
  <joint name="q_2_5_1" type="revolute">
    <parent link="FF_link_U_5"/>
    <child link="L_U_5_1"/>
    <origin rpy="0 0 0" xyz="0.08 0 0"/>
    <limit effort="1.4709975" lower="-1.570795" upper="1.570795" velocity="6.178465545"/>
    <dynamics damping="7.0" friction="0.1"/>
    <axis xyz="0 1 0"/>
  </joint>
  <!--q_2_i_2-->
  <joint name="q_2_5_2" type="revolute">
    <parent link="L_U_5_1"/>
    <child link="L_U_5_2"/>
    <origin rpy="0 -1.570795 0" xyz="0.06 0 0"/>
    <limit effort="1.4709975" lower="-1.570795" upper="1.570795" velocity="6.178465545"/>
    <dynamics damping="7.0" friction="0.1"/>
    <axis xyz="0 1 0"/>
  </joint>
  <!--leg_U_i_1 link-->
  <link name="L_U_5_1">
    <pose>0 0 0 0 0 0</pose>
    <selfCollide>1</selfCollide>
    <inertial>
      <mass value="0.06"/>
      <origin rpy="0 1.570795 0" xyz="0.03 0 0"/>
      <inertia ixx="0.0003" ixy="0.01" ixz="0.01" iyy="0.01" iyz="0.01" izz="0.0003"/>
    </inertial>
    <collision name="L_U_5_1">
      <origin rpy="0 1.570795 0" xyz="0.03 0 0"/>
      <geometry>
        <cylinder length="0.036" radius="0.003"/>
      </geometry>
      <surface>
        <contact>
          <poissons_ratio>0.347</poissons_ratio>
          <elastic_modulus>8.8e+09</elastic_modulus>
          <ode>
            <soft_cfm>0.001</soft_cfm>
            <soft_erp>0.3</soft_erp>
            <kp>1000</kp>
            <kd>10</kd>
            <max_vel>0.0</max_vel>
            <min_depth>0.1</min_depth>
          </ode>
        </contact>
      </surface>
    </collision>
    <visual>
      <origin rpy="0 1.570795 0" xyz="0.03 0 0"/>
      <geometry>
        <cylinder length="0.06" radius="0.005"/>
      </geometry>
    </visual>
  </link>
  <!--leg_U_i_1 link-->
  <link name="L_U_5_2">
    <pose>0 0 0 0 0 0</pose>
    <selfCollide>1</selfCollide>
    <inertial>
      <mass value="0.06"/>
      <origin rpy="0 1.570795 0" xyz="0.03 0 0"/>
      <inertia ixx="0.0003" ixy="0.01" ixz="0.01" iyy="0.01" iyz="0.01" izz="0.0003"/>
    </inertial>
    <collision name="L_U_5_2">
      <origin rpy="0 1.570795 0" xyz="0.03 0 0"/>
      <geometry>
        <cylinder length="0.036" radius="0.003"/>
      </geometry>
      <surface>
        <contact>
          <poissons_ratio>0.347</poissons_ratio>
          <elastic_modulus>8.8e+09</elastic_modulus>
          <ode>
            <soft_cfm>0.01</soft_cfm>
            <soft_erp>0.3</soft_erp>
            <kp>1000</kp>
            <kd>10</kd>
            <max_vel>100.0</max_vel>
            <min_depth>0.1</min_depth>
          </ode>
        </contact>
      </surface>
    </collision>
    <visual>
      <origin rpy="0 1.570795 0" xyz="0.03 0 0"/>
      <geometry>
        <cylinder length="0.06" radius="0.005"/>
      </geometry>
    </visual>
  </link>
  <gazebo reference="FF_link_U_5">
    <implicitSpringDamper>True</implicitSpringDamper>
    <selfCollide>1</selfCollide>
  </gazebo>
  <gazebo reference="leg_U_5_1">
    <implicitSpringDamper>True</implicitSpringDamper>
    <selfCollide>1</selfCollide>
  </gazebo>
  <gazebo reference="leg_U_5_2">
    <implicitSpringDamper>True</implicitSpringDamper>
    <selfCollide>1</selfCollide>
  </gazebo>
  <transmission name="tran_2_5_1">
    <type>transmission_interface/SimpleTransmission</type>
    <joint name="q_2_5_1">
      <hardwareInterface>hardware_interface/PositionJointInterface</hardwareInterface>
    </joint>
    <actuator name="motor_2_5_1">
      <hardwareInterface>hardware_interface/PositionJointInterface</hardwareInterface>
      <mechanicalReduction>1</mechanicalReduction>
    </actuator>
  </transmission>
  <transmission name="tran_2_5_2">
    <type>transmission_interface/SimpleTransmission</type>
    <joint name="q_2_5_2">
      <hardwareInterface>hardware_interface/PositionJointInterface</hardwareInterface>
    </joint>
    <actuator name="motor_2_5_2">
      <hardwareInterface>hardware_interface/PositionJointInterface</hardwareInterface>
      <mechanicalReduction>1</mechanicalReduction>
    </actuator>
  </transmission>
  <!--base to folding fan bottom joint-->
  <joint name="folding_fan_upper_joint_6" type="fixed">
    <parent link="base_link"/>
    <child link="FF_link_U_6"/>
    <origin rpy="0 0 6.28314" xyz="0 0 0.09"/>
    <!--limit effort="0" velocity="0.0" upper="0.0001" lower ="-0.0001" /-->
    <dynamics damping="7.0" friction="0.1"/>
  </joint>
  <!--fixed link-->
  <link name="FF_link_U_6">
    <pose>0 0 0 0 0 0</pose>
    <selfCollide>1</selfCollide>
    <origin rpy="0 0 0" xyz="0 0 0"/>
    <surface>
      <contact>
        <poissons_ratio>0.347</poissons_ratio>
        <elastic_modulus>8.8e+09</elastic_modulus>
        <ode>
          <soft_cfm>0.01</soft_cfm>
          <soft_erp>0.3</soft_erp>
          <kp>1000</kp>
          <kd>10</kd>
          <max_vel>100.0</max_vel>
          <min_depth>0.001</min_depth>
        </ode>
      </contact>
    </surface>
    <inertial>
      <mass value="0.1"/>
      <origin rpy="0 0 0" xyz="0 0 0"/>
      <inertia ixx="0.01" ixy="0.01" ixz="0.01" iyy="0.01" iyz="0.01" izz="0.01"/>
    </inertial>
  </link>
  <!--q_2_i_1-->
  <joint name="q_2_6_1" type="revolute">
    <parent link="FF_link_U_6"/>
    <child link="L_U_6_1"/>
    <origin rpy="0 0 0" xyz="0.08 0 0"/>
    <limit effort="1.4709975" lower="-1.570795" upper="1.570795" velocity="6.178465545"/>
    <dynamics damping="7.0" friction="0.1"/>
    <axis xyz="0 1 0"/>
  </joint>
  <!--q_2_i_2-->
  <joint name="q_2_6_2" type="revolute">
    <parent link="L_U_6_1"/>
    <child link="L_U_6_2"/>
    <origin rpy="0 -1.570795 0" xyz="0.06 0 0"/>
    <limit effort="1.4709975" lower="-1.570795" upper="1.570795" velocity="6.178465545"/>
    <dynamics damping="7.0" friction="0.1"/>
    <axis xyz="0 1 0"/>
  </joint>
  <!--leg_U_i_1 link-->
  <link name="L_U_6_1">
    <pose>0 0 0 0 0 0</pose>
    <selfCollide>1</selfCollide>
    <inertial>
      <mass value="0.06"/>
      <origin rpy="0 1.570795 0" xyz="0.03 0 0"/>
      <inertia ixx="0.0003" ixy="0.01" ixz="0.01" iyy="0.01" iyz="0.01" izz="0.0003"/>
    </inertial>
    <collision name="L_U_6_1">
      <origin rpy="0 1.570795 0" xyz="0.03 0 0"/>
      <geometry>
        <cylinder length="0.036" radius="0.003"/>
      </geometry>
      <surface>
        <contact>
          <poissons_ratio>0.347</poissons_ratio>
          <elastic_modulus>8.8e+09</elastic_modulus>
          <ode>
            <soft_cfm>0.001</soft_cfm>
            <soft_erp>0.3</soft_erp>
            <kp>1000</kp>
            <kd>10</kd>
            <max_vel>0.0</max_vel>
            <min_depth>0.1</min_depth>
          </ode>
        </contact>
      </surface>
    </collision>
    <visual>
      <origin rpy="0 1.570795 0" xyz="0.03 0 0"/>
      <geometry>
        <cylinder length="0.06" radius="0.005"/>
      </geometry>
    </visual>
  </link>
  <!--leg_U_i_1 link-->
  <link name="L_U_6_2">
    <pose>0 0 0 0 0 0</pose>
    <selfCollide>1</selfCollide>
    <inertial>
      <mass value="0.06"/>
      <origin rpy="0 1.570795 0" xyz="0.03 0 0"/>
      <inertia ixx="0.0003" ixy="0.01" ixz="0.01" iyy="0.01" iyz="0.01" izz="0.0003"/>
    </inertial>
    <collision name="L_U_6_2">
      <origin rpy="0 1.570795 0" xyz="0.03 0 0"/>
      <geometry>
        <cylinder length="0.036" radius="0.003"/>
      </geometry>
      <surface>
        <contact>
          <poissons_ratio>0.347</poissons_ratio>
          <elastic_modulus>8.8e+09</elastic_modulus>
          <ode>
            <soft_cfm>0.01</soft_cfm>
            <soft_erp>0.3</soft_erp>
            <kp>1000</kp>
            <kd>10</kd>
            <max_vel>100.0</max_vel>
            <min_depth>0.1</min_depth>
          </ode>
        </contact>
      </surface>
    </collision>
    <visual>
      <origin rpy="0 1.570795 0" xyz="0.03 0 0"/>
      <geometry>
        <cylinder length="0.06" radius="0.005"/>
      </geometry>
    </visual>
  </link>
  <gazebo reference="FF_link_U_6">
    <implicitSpringDamper>True</implicitSpringDamper>
    <selfCollide>1</selfCollide>
  </gazebo>
  <gazebo reference="leg_U_6_1">
    <implicitSpringDamper>True</implicitSpringDamper>
    <selfCollide>1</selfCollide>
  </gazebo>
  <gazebo reference="leg_U_6_2">
    <implicitSpringDamper>True</implicitSpringDamper>
    <selfCollide>1</selfCollide>
  </gazebo>
  <transmission name="tran_2_6_1">
    <type>transmission_interface/SimpleTransmission</type>
    <joint name="q_2_6_1">
      <hardwareInterface>hardware_interface/PositionJointInterface</hardwareInterface>
    </joint>
    <actuator name="motor_2_6_1">
      <hardwareInterface>hardware_interface/PositionJointInterface</hardwareInterface>
      <mechanicalReduction>1</mechanicalReduction>
    </actuator>
  </transmission>
  <transmission name="tran_2_6_2">
    <type>transmission_interface/SimpleTransmission</type>
    <joint name="q_2_6_2">
      <hardwareInterface>hardware_interface/PositionJointInterface</hardwareInterface>
    </joint>
    <actuator name="motor_2_6_2">
      <hardwareInterface>hardware_interface/PositionJointInterface</hardwareInterface>
      <mechanicalReduction>1</mechanicalReduction>
    </actuator>
  </transmission>
  <physics default="true" name="ode_custom" type="ode">
    <real_time_update_rate>1000</real_time_update_rate>
    <max_step_size>0.001</max_step_size>
    <min_step_size>0.0001</min_step_size>
    <max_contacts>50</max_contacts>
    <!--use_dynamic_moi_rescaling>1</use_dynamic_moi_rescaling-->
    <ode>
      <constraints cfm="0.01" contact_max_correcting_vel="10.0" contact_surface_layer="0.01" erp="0.3"/>
      <solver>
        <type>quick</type>
        <precon_iters>100</precon_iters>
        <iteractions>500</iteractions>
        <!--SOR>1.2</SOR-->
      </solver>
    </ode>
  </physics>
  <gazebo>
    <plugin filename="libgazebo_ros_control.so" name="gazebo_ros_control">
      <robotNamespace>/shell_robot_model</robotNamespace>
      <robotSimType>gazebo_ros_control/DefaultRobotHWSim</robotSimType>
    </plugin>
  </gazebo>
</robot>
